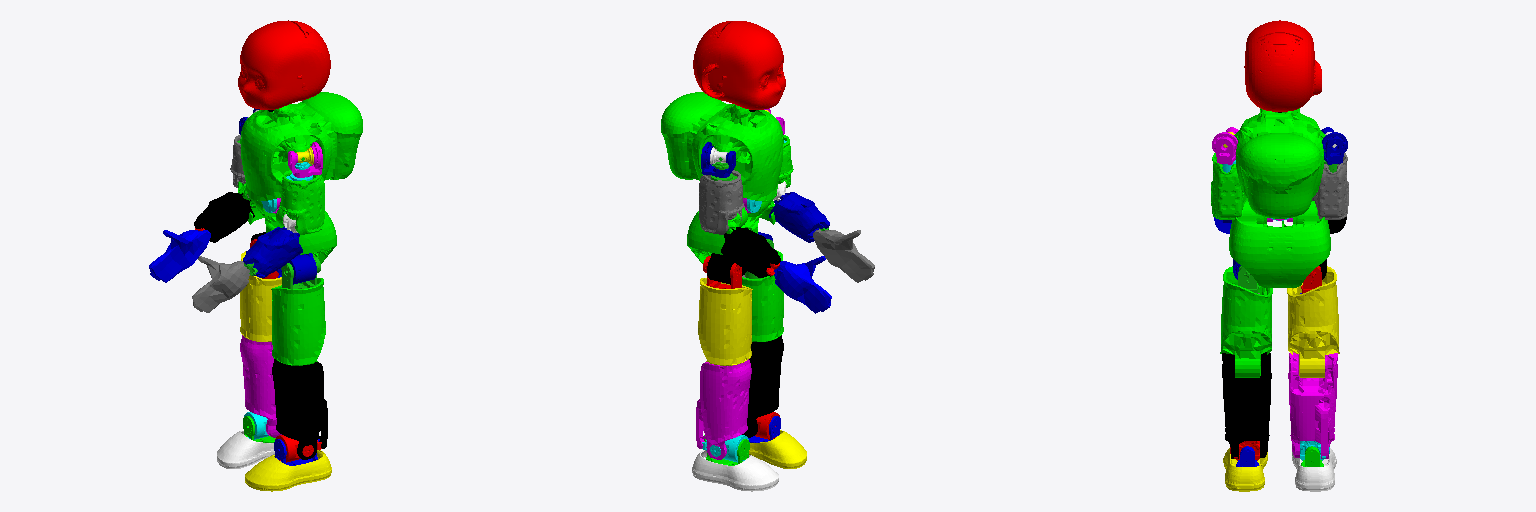
--- Render facts (derived) ---
Views: 3 orthographic renders of the robot side by side, from view 1: azimuth 30°, elevation 25°; view 2: azimuth 150°, elevation 25°; view 3: azimuth 270°, elevation 25°.
Model iCub with 189 links and 188 joints (32 revolute, 156 fixed), rooted at base_link, posed all joints at 0 but 2 set to mid-range because 0 is outside their limits (r_elbow = 1.06, l_elbow = 1.06).
Visible links, largest first — view 1: chest, head, l_lower_leg, l_upper_leg, r_lower_leg, l_upper_arm, l_foot, r_upper_leg, l_hand, r_hand, l_forearm, r_forearm (+4 smaller); view 2: chest, head, r_lower_leg, r_upper_leg, l_lower_leg, r_upper_arm, r_foot, l_upper_leg, r_hand, r_forearm, l_hand, l_forearm (+4 smaller); view 3: chest, root_link, head, r_upper_leg, l_upper_leg, l_lower_leg, r_lower_leg, r_upper_arm, l_upper_arm, r_foot, l_foot, l_shoulder_2 (+1 smaller).
Link boxes in pixels (x1=…): chest: x1=240, y1=92, x2=362, y2=200; head: x1=238, y1=20, x2=330, y2=109; l_lower_leg: x1=272, y1=359, x2=327, y2=459; l_upper_leg: x1=271, y1=278, x2=325, y2=365; r_lower_leg: x1=240, y1=335, x2=281, y2=437; l_upper_arm: x1=280, y1=170, x2=324, y2=234; l_foot: x1=245, y1=450, x2=331, y2=491; r_upper_leg: x1=240, y1=251, x2=281, y2=341; l_hand: x1=192, y1=256, x2=249, y2=312; r_hand: x1=149, y1=230, x2=210, y2=282; l_forearm: x1=243, y1=227, x2=302, y2=277; r_forearm: x1=194, y1=192, x2=254, y2=242; chest: x1=661, y1=92, x2=783, y2=201; head: x1=693, y1=21, x2=785, y2=109; r_lower_leg: x1=696, y1=359, x2=751, y2=459; r_upper_leg: x1=698, y1=278, x2=752, y2=365; l_lower_leg: x1=742, y1=335, x2=783, y2=437; r_upper_arm: x1=699, y1=170, x2=743, y2=234; r_foot: x1=692, y1=450, x2=778, y2=491; l_upper_leg: x1=742, y1=250, x2=783, y2=341; r_hand: x1=774, y1=256, x2=831, y2=313; r_forearm: x1=721, y1=227, x2=780, y2=277; l_hand: x1=813, y1=229, x2=874, y2=282; l_forearm: x1=769, y1=192, x2=829, y2=242; chest: x1=1234, y1=108, x2=1325, y2=218; root_link: x1=1229, y1=201, x2=1330, y2=287; head: x1=1244, y1=20, x2=1321, y2=111; r_upper_leg: x1=1287, y1=266, x2=1339, y2=377; l_upper_leg: x1=1220, y1=266, x2=1272, y2=377; l_lower_leg: x1=1222, y1=352, x2=1271, y2=458; r_lower_leg: x1=1288, y1=352, x2=1337, y2=458; r_upper_arm: x1=1312, y1=153, x2=1348, y2=219; l_upper_arm: x1=1211, y1=153, x2=1247, y2=219; r_foot: x1=1292, y1=448, x2=1336, y2=491; l_foot: x1=1223, y1=448, x2=1267, y2=491; l_shoulder_2: x1=1212, y1=127, x2=1238, y2=164.
Size in the robot's own frame: 0.4797 by 0.2988 by 1.08 metres.
Meshes: 39 distinct files referenced, 38 mesh visuals loaded (38 binary STL); not drawn: 1 (reference not matched to a file when rendering).

robot.urdf — iCub:
<robot name="iCub">
  <link name="root_link">
    <inertial>
      <origin xyz="0.0248821 0.000103947 -0.0440806" rpy="1.57079632679 0 -1.57079632679"/>
      <mass value="5.09143"/>
      <inertia ixx="0.0139679" ixy="-5.93488e-06" ixz="-1.55458e-05" iyy="0.0202112" iyz="-0.00170968" izz="0.0249124"/>
    </inertial>
    <visual>
      <origin xyz="-0.0364 0 0.032" rpy="1.57079632679 0 -1.57079632679"/>
      <geometry>
        <mesh filename="package://iCub/meshes/simmechanics/sim_sea_2-5_root_link_prt-binary.stl" scale="0.001 0.001 0.001"/>
      </geometry>
      <material name="green">
        <color rgba="0 1 0 1"/>
      </material>
    </visual>
    <collision>
      <origin xyz="-0.0364 0 0.032" rpy="1.57079632679 0 -1.57079632679"/>
      <geometry>
        <mesh filename="package://iCub/meshes/simmechanics/sim_sea_2-5_root_link_prt-binary.stl" scale="0.001 0.001 0.001"/>
      </geometry>
    </collision>
  </link>
  <link name="r_hip_1">
    <inertial>
      <origin xyz="-0.0005145 -0.0380753 -7.1e-05" rpy="1.57079632679 0 1.57079632679"/>
      <mass value="0.919978"/>
      <inertia ixx="0.000404268" ixy="-1.26852e-06" ixz="1.11055e-06" iyy="0.000574741" iyz="-7.69474e-07" izz="0.000580025"/>
    </inertial>
    <visual>
      <origin xyz="0.0428515000001 0.026 0.151913" rpy="1.57079632679 0 1.57079632679"/>
      <geometry>
        <mesh filename="package://iCub/meshes/simmechanics/sim_sea_2-5_r_hip_1_prt-binary.stl" scale="0.001 0.001 0.001"/>
      </geometry>
      <material name="black">
        <color rgba="0 0 0 1"/>
      </material>
    </visual>
    <collision>
      <origin xyz="0.0428515000001 0.026 0.151913" rpy="1.57079632679 0 1.57079632679"/>
      <geometry>
        <mesh filename="package://iCub/meshes/simmechanics/sim_sea_2-5_r_hip_1_prt-binary.stl" scale="0.001 0.001 0.001"/>
      </geometry>
    </collision>
  </link>
  <joint name="r_hip_pitch" type="revolute">
    <origin xyz="0.0064515 0.026 -0.119913" rpy="0 0 -3.14159265359"/>
    <axis xyz="-2.22044604925e-16 -1.0 0.0"/>
    <parent link="root_link"/>
    <child link="r_hip_1"/>
    <limit effort="55.5" lower="-0.785398163397" upper="2.33874119767" velocity="5.1"/>
    <dynamics damping="1.0" friction="0.0"/>
  </joint>
  <link name="r_hip_2">
    <inertial>
      <origin xyz="-0.0013754 3.49999999998e-06 -0.044282" rpy="1.57079632679 0 1.57079632679"/>
      <mass value="0.418361"/>
      <inertia ixx="0.000487866" ixy="-2.70231e-07" ixz="1.85338e-07" iyy="0.000286099" iyz="1.22793e-05" izz="0.000315174"/>
    </inertial>
    <visual>
      <origin xyz="0.0428514998094 0.0701 0.151913" rpy="1.57079632679 0 1.57079632679"/>
      <geometry>
        <mesh filename="package://iCub/meshes/simmechanics/sim_sea_2-5_r_hip_2_prt-binary.stl" scale="0.001 0.001 0.001"/>
      </geometry>
      <material name="red">
        <color rgba="1 0 0 1"/>
      </material>
    </visual>
    <collision>
      <origin xyz="0.0428514998094 0.0701 0.151913" rpy="1.57079632679 0 1.57079632679"/>
      <geometry>
        <mesh filename="package://iCub/meshes/simmechanics/sim_sea_2-5_r_hip_2_prt-binary.stl" scale="0.001 0.001 0.001"/>
      </geometry>
    </collision>
  </link>
  <joint name="r_hip_roll" type="revolute">
    <origin xyz="0 -0.0441 0" rpy="0 0 0"/>
    <axis xyz="-1.0 0.0 -2.22044604925e-16"/>
    <parent link="r_hip_1"/>
    <child link="r_hip_2"/>
    <limit effort="37.0" lower="-0.349065850399" upper="2.09439510239" velocity="7.64"/>
    <dynamics damping="1.0" friction="0.0"/>
  </joint>
  <link name="r_hip_3">
    <inertial>
      <origin xyz="-0.000123 -0.0002823 0.008718" rpy="-1.57079632679 0 -1.57079632679"/>
      <mass value="0.126212"/>
      <inertia ixx="0.01" ixy="2.67901e-07" ixz="-4.41463e-09" iyy="0.01" iyz="3.32338e-08" izz="0.01"/>
    </inertial>
    <visual>
      <origin xyz="0.0437089998094 -0.0701 -0.226213" rpy="-1.57079632679 0 -1.57079632679"/>
      <geometry>
        <mesh filename="package://iCub/meshes/simmechanics/sim_sea_2-5_r_upper_thigh_prt-binary.stl" scale="0.001 0.001 0.001"/>
      </geometry>
      <material name="blue">
        <color rgba="0 0 1 1"/>
      </material>
    </visual>
    <collision>
      <origin xyz="0.0437089998094 -0.0701 -0.226213" rpy="-1.57079632679 0 -1.57079632679"/>
      <geometry>
        <mesh filename="package://iCub/meshes/simmechanics/sim_sea_2-5_r_upper_thigh_prt-binary.stl" scale="0.001 0.001 0.001"/>
      </geometry>
    </collision>
  </link>
  <joint name="r_leg_ft_sensor" type="fixed">
    <origin xyz="-0.0008575 0 -0.0743" rpy="3.14159265359 0 0"/>
    <parent link="r_hip_2"/>
    <child link="r_hip_3"/>
    <dynamics damping="0.1"/>
  </joint>
  <link name="r_upper_leg">
    <inertial>
      <origin xyz="0.0033999 -2.91e-05 -0.078954" rpy="1.57079632679 0 1.57079632679"/>
      <mass value="1.8035"/>
      <inertia ixx="0.00647751422999" ixy="0.000129579429588" ixz="5.48205094739e-06" iyy="0.0014593786411" iyz="-0.000136613086875" izz="0.00646720823813"/>
    </inertial>
    <visual>
      <origin xyz="0.0437089998094 0.0701 0.240813" rpy="1.57079632679 0 1.57079632679"/>
      <geometry>
        <mesh filename="package://iCub/meshes/simmechanics/sim_sea_2-5_r_thigh_prt-binary.stl" scale="0.001 0.001 0.001"/>
      </geometry>
      <material name="yellow">
        <color rgba="1 1 0 1"/>
      </material>
    </visual>
    <collision>
      <origin xyz="0.0437089998094 0.0701 0.240813" rpy="1.57079632679 0 1.57079632679"/>
      <geometry>
        <mesh filename="package://iCub/meshes/simmechanics/sim_sea_2-5_r_thigh_prt-binary.stl" scale="0.001 0.001 0.001"/>
      </geometry>
    </collision>
  </link>
  <joint name="r_hip_yaw" type="revolute">
    <origin xyz="0 0 0.0144" rpy="-3.14159265359 0 0"/>
    <axis xyz="0.0 -2.22044604925e-16 -1.0"/>
    <parent link="r_hip_3"/>
    <child link="r_upper_leg"/>
    <limit effort="37.0" lower="-1.3962634016" upper="1.3962634016" velocity="7.64"/>
    <dynamics damping="1.0" friction="0.0"/>
  </joint>
  <link name="r_upper_leg_back_contact"/>
  <joint name="r_upper_leg_back_contact_fixed_joint" type="fixed">
    <origin xyz="-0.0511999 0 0.0146" rpy="0 1.57079632679 0"/>
    <parent link="r_upper_leg"/>
    <child link="r_upper_leg_back_contact"/>
    <dynamics damping="0.1"/>
  </joint>
  <link name="r_upper_leg_dh_frame"/>
  <joint name="r_upper_leg_dh_frame_fixed_joint" type="fixed">
    <origin xyz="0 0 -0.145825" rpy="1.57079632679 0 0"/>
    <parent link="r_upper_leg"/>
    <child link="r_upper_leg_dh_frame"/>
    <dynamics damping="0.1"/>
  </joint>
  <link name="r_lower_leg">
    <inertial>
      <origin xyz="0.0012363 -0.0035131 -0.088794" rpy="1.57079632679 0 1.57079632679"/>
      <mass value="1.472"/>
      <inertia ixx="0.00423993167478" ixy="0.000228814548854" ixz="-5.55646459453e-05" iyy="0.00152095043447" iyz="-0.000264132979243" izz="0.00457358584206"/>
    </inertial>
    <visual>
      <origin xyz="0.0437089998094 0.0701000001907 0.386638" rpy="1.57079632679 0 1.57079632679"/>
      <geometry>
        <mesh filename="package://iCub/meshes/simmechanics/sim_sea_2-5_r_shank_prt-binary.stl" scale="0.001 0.001 0.001"/>
      </geometry>
      <material name="pink">
        <color rgba="1 0 1 1"/>
      </material>
    </visual>
    <collision>
      <origin xyz="0.0437089998094 0.0701000001907 0.386638" rpy="1.57079632679 0 1.57079632679"/>
      <geometry>
        <mesh filename="package://iCub/meshes/simmechanics/sim_sea_2-5_r_shank_prt-binary.stl" scale="0.001 0.001 0.001"/>
      </geometry>
    </collision>
  </link>
  <joint name="r_knee" type="revolute">
    <origin xyz="0 0 -0.145825" rpy="0 0 0"/>
    <axis xyz="-2.22044604925e-16 -1.0 0.0"/>
    <parent link="r_upper_leg"/>
    <child link="r_lower_leg"/>
    <limit effort="37.0" lower="-2.16420827247" upper="0.0698131700798" velocity="7.64"/>
    <dynamics damping="1.0" friction="0.0"/>
  </joint>
  <link name="r_lower_leg_skin_0"/>
  <joint name="r_lower_leg_skin_0_fixed_joint" type="fixed">
    <origin xyz="0.0544117 -0.031214 -0.002634" rpy="2.09173809157e-06 -1.41530676247 2.48648458622"/>
    <parent link="r_lower_leg"/>
    <child link="r_lower_leg_skin_0"/>
    <dynamics damping="0.1"/>
  </joint>
  <link name="r_lower_leg_skin_3"/>
  <joint name="r_lower_leg_skin_3_fixed_joint" type="fixed">
    <origin xyz="0.05157878 0.0304205 -0.002843" rpy="0 -1.42951054083 -2.30391484186"/>
    <parent link="r_lower_leg"/>
    <child link="r_lower_leg_skin_3"/>
    <dynamics damping="0.1"/>
  </joint>
  <link name="r_lower_leg_skin_4"/>
  <joint name="r_lower_leg_skin_4_fixed_joint" type="fixed">
    <origin xyz="0.0583103 0.0167836 0.007272" rpy="-2.98636361519e-07 -1.25636748876 -2.75892380087"/>
    <parent link="r_lower_leg"/>
    <child link="r_lower_leg_skin_4"/>
    <dynamics damping="0.1"/>
  </joint>
  <link name="r_lower_leg_skin_5"/>
  <joint name="r_lower_leg_skin_5_fixed_joint" type="fixed">
    <origin xyz="0.0636503 0.0003094 -0.001972" rpy="0 -1.38652215068 -3.14147169807"/>
    <parent link="r_lower_leg"/>
    <child link="r_lower_leg_skin_5"/>
    <dynamics damping="0.1"/>
  </joint>
  <link name="r_lower_leg_skin_6"/>
  <joint name="r_lower_leg_skin_6_fixed_joint" type="fixed">
    <origin xyz="0.05208552 0.0304434 -0.022149" rpy="-3.14158927953 -1.46785123411 0.837492889077"/>
    <parent link="r_lower_leg"/>
    <child link="r_lower_leg_skin_6"/>
    <dynamics damping="0.1"/>
  </joint>
  <link name="r_lower_leg_skin_9"/>
  <joint name="r_lower_leg_skin_9_fixed_joint" type="fixed">
    <origin xyz="0.0598214 0.0167973 -0.030962" rpy="-3.14159202356 -1.34224755325 0.379294477718"/>
    <parent link="r_lower_leg"/>
    <child link="r_lower_leg_skin_9"/>
    <dynamics damping="0.1"/>
  </joint>
  <link name="r_lower_leg_skin_10"/>
  <joint name="r_lower_leg_skin_10_fixed_joint" type="fixed">
    <origin xyz="0.0644607 0.0003424 -0.021205" rpy="3.14159265355 -1.47095803541 0.000430021675261"/>
    <parent link="r_lower_leg"/>
    <child link="r_lower_leg_skin_10"/>
    <dynamics damping="0.1"/>
  </joint>
  <link name="r_lower_leg_skin_11"/>
  <joint name="r_lower_leg_skin_11_fixed_joint" type="fixed">
    <origin xyz="0.0607108 -0.0160916 -0.030885" rpy="-3.14159218252 -1.3281180406 -0.27213836788"/>
    <parent link="r_lower_leg"/>
    <child link="r_lower_leg_skin_11"/>
    <dynamics damping="0.1"/>
  </joint>
  <link name="r_lower_leg_skin_14"/>
  <joint name="r_lower_leg_skin_14_fixed_joint" type="fixed">
    <origin xyz="0.0550477 -0.031176 -0.0219" rpy="-3.14159181885 -1.46502735635 -0.654033407167"/>
    <parent link="r_lower_leg"/>
    <child link="r_lower_leg_skin_14"/>
    <dynamics damping="0.1"/>
  </joint>
  <link name="r_lower_leg_skin_15"/>
  <joint name="r_lower_leg_skin_15_fixed_joint" type="fixed">
    <origin xyz="0.0591708 -0.0161788 0.007243" rpy="4.27484256729e-07 -1.25203633076 2.86798859471"/>
    <parent link="r_lower_leg"/>
    <child link="r_lower_leg_skin_15"/>
    <dynamics damping="0.1"/>
  </joint>
  <link name="r_lower_leg_skin_16"/>
  <joint name="r_lower_leg_skin_16_fixed_joint" type="fixed">
    <origin xyz="0.0272875 -0.050287 -0.004549" rpy="1.33075915123e-05 -1.53260853515 1.96280242835"/>
    <parent link="r_lower_leg"/>
    <child link="r_lower_leg_skin_16"/>
    <dynamics damping="0.1"/>
  </joint>
  <link name="r_lower_leg_skin_17"/>
  <joint name="r_lower_leg_skin_17_fixed_joint" type="fixed">
    <origin xyz="0.027875 -0.050312 -0.023882" rpy="-3.1415645262 -1.56366240237 -1.18022508756"/>
    <parent link="r_lower_leg"/>
    <child link="r_lower_leg_skin_17"/>
    <dynamics damping="0.1"/>
  </joint>
  <link name="r_lower_leg_skin_19"/>
  <joint name="r_lower_leg_skin_19_fixed_joint" type="fixed">
    <origin xyz="0.0357534 0.0410628 0.006065" rpy="-8.90877717426e-07 -1.43498696978 -2.15863618017"/>
    <parent link="r_lower_leg"/>
    <child link="r_lower_leg_skin_19"/>
    <dynamics damping="0.1"/>
  </joint>
  <link name="r_lower_leg_skin_20"/>
  <joint name="r_lower_leg_skin_20_fixed_joint" type="fixed">
    <origin xyz="0.0234419 0.0479908 -0.004952" rpy="-3.20556549428e-06 -1.50015513031 -1.86755092413"/>
    <parent link="r_lower_leg"/>
    <child link="r_lower_leg_skin_20"/>
    <dynamics damping="0.1"/>
  </joint>
  <link name="r_lower_leg_skin_21"/>
  <joint name="r_lower_leg_skin_21_fixed_joint" type="fixed">
    <origin xyz="0.0242704 0.0485378 -0.024277" rpy="2.29671149558e-05 -1.55545513881 -1.87411972316"/>
    <parent link="r_lower_leg"/>
    <child link="r_lower_leg_skin_21"/>
    <dynamics damping="0.1"/>
  </joint>
  <link name="r_lower_leg_skin_28"/>
  <joint name="r_lower_leg_skin_28_fixed_joint" type="fixed">
    <origin xyz="0.04087215 -0.04244 -0.032756" rpy="3.14158088865 -1.52252462169 -0.929681029763"/>
    <parent link="r_lower_leg"/>
    <child link="r_lower_leg_skin_28"/>
    <dynamics damping="0.1"/>
  </joint>
  <link name="r_lower_leg_skin_29"/>
  <joint name="r_lower_leg_skin_29_fixed_joint" type="fixed">
    <origin xyz="0.03846637 -0.043516 -0.05242" rpy="3.14158017044 -1.53429841563 -0.915436346631"/>
    <parent link="r_lower_leg"/>
    <child link="r_lower_leg_skin_29"/>
    <dynamics damping="0.1"/>
  </joint>
  <link name="r_lower_leg_skin_31"/>
  <joint name="r_lower_leg_skin_31_fixed_joint" type="fixed">
    <origin xyz="0.03914638 -0.042271 0.006327" rpy="-6.58381747139e-07 -1.4186494462 2.20853032986"/>
    <parent link="r_lower_leg"/>
    <child link="r_lower_leg_skin_31"/>
    <dynamics damping="0.1"/>
  </joint>
  <link name="r_lower_leg_skin_32"/>
  <joint name="r_lower_leg_skin_32_fixed_joint" type="fixed">
    <origin xyz="0.04598301 0.0325847 -0.080733" rpy="-3.14159014988 -1.52238289798 0.645940380887"/>
    <parent link="r_lower_leg"/>
    <child link="r_lower_leg_skin_32"/>
    <dynamics damping="0.1"/>
  </joint>
  <link name="r_lower_leg_skin_35"/>
  <joint name="r_lower_leg_skin_35_fixed_joint" type="fixed">
    <origin xyz="0.04774866 -0.031232 -0.080113" rpy="-3.14158668275 -1.51758467332 -0.541532486468"/>
    <parent link="r_lower_leg"/>
    <child link="r_lower_leg_skin_35"/>
    <dynamics damping="0.1"/>
  </joint>
  <link name="r_lower_leg_skin_36"/>
  <joint name="r_lower_leg_skin_36_fixed_joint" type="fixed">
    <origin xyz="0.05322409 -0.0156018 -0.088362" rpy="-3.14159034144 -1.51587265281 -0.20740733566"/>
    <parent link="r_lower_leg"/>
    <child link="r_lower_leg_skin_36"/>
    <dynamics damping="0.1"/>
  </joint>
  <link name="r_lower_leg_skin_37"/>
  <joint name="r_lower_leg_skin_37_fixed_joint" type="fixed">
    <origin xyz="0.0552572 0.0009644 -0.078318" rpy="-3.14158180452 -1.52318336898 0.00752450583063"/>
    <parent link="r_lower_leg"/>
    <child link="r_lower_leg_skin_37"/>
    <dynamics damping="0.1"/>
  </joint>
  <link name="r_lower_leg_skin_38"/>
  <joint name="r_lower_leg_skin_38_fixed_joint" type="fixed">
    <origin xyz="0.04880467 -0.031263 -0.060757" rpy="3.14158665199 -1.5157299554 -0.54215359959"/>
    <parent link="r_lower_leg"/>
    <child link="r_lower_leg_skin_38"/>
    <dynamics damping="0.1"/>
  </joint>
  <link name="r_lower_leg_skin_41"/>
  <joint name="r_lower_leg_skin_41_fixed_joint" type="fixed">
    <origin xyz="0.0566009 -0.0159129 -0.049854" rpy="-3.14159198825 -1.40681343597 -0.248233089413"/>
    <parent link="r_lower_leg"/>
    <child link="r_lower_leg_skin_41"/>
    <dynamics damping="0.1"/>
  </joint>
  <link name="r_lower_leg_skin_42"/>
  <joint name="r_lower_leg_skin_42_fixed_joint" type="fixed">
    <origin xyz="0.0570106 0.0007962 -0.05908" rpy="3.14158970239 -1.43524750416 0.00687943651504"/>
    <parent link="r_lower_leg"/>
    <child link="r_lower_leg_skin_42"/>
    <dynamics damping="0.1"/>
  </joint>
  <link name="r_lower_leg_skin_43"/>
  <joint name="r_lower_leg_skin_43_fixed_joint" type="fixed">
    <origin xyz="0.04712542 0.0323653 -0.061362" rpy="-3.14159136621 -1.53843038237 0.624217523667"/>
    <parent link="r_lower_leg"/>
    <child link="r_lower_leg_skin_43"/>
    <dynamics damping="0.1"/>
  </joint>
  <link name="r_lower_leg_skin_46"/>
  <joint name="r_lower_leg_skin_46_fixed_joint" type="fixed">
    <origin xyz="0.0558156 0.0172164 -0.05018" rpy="-3.14158987809 -1.42759881603 0.325607710876"/>
    <parent link="r_lower_leg"/>
    <child link="r_lower_leg_skin_46"/>
    <dynamics damping="0.1"/>
  </joint>
  <link name="r_lower_leg_skin_47"/>
  <joint name="r_lower_leg_skin_47_fixed_joint" type="fixed">
    <origin xyz="0.05264163 0.0176389 -0.08886" rpy="3.14158963519 -1.51690559406 0.262640425058"/>
    <parent link="r_lower_leg"/>
    <child link="r_lower_leg_skin_47"/>
    <dynamics damping="0.1"/>
  </joint>
  <link name="r_lower_leg_skin_49"/>
  <joint name="r_lower_leg_skin_49_fixed_joint" type="fixed">
    <origin xyz="0.04113137 0.0324385 -0.138859" rpy="-3.14158934751 -1.48996135695 0.729763592113"/>
    <parent link="r_lower_leg"/>
    <child link="r_lower_leg_skin_49"/>
    <dynamics damping="0.1"/>
  </joint>
  <link name="r_lower_leg_skin_50"/>
  <joint name="r_lower_leg_skin_50_fixed_joint" type="fixed">
    <origin xyz="0.043016947 0.0325273 -0.119469" rpy="3.14159069596 -1.49900732636 0.695784020081"/>
    <parent link="r_lower_leg"/>
    <child link="r_lower_leg_skin_50"/>
    <dynamics damping="0.1"/>
  </joint>
  <link name="r_lower_leg_skin_51"/>
  <joint name="r_lower_leg_skin_51_fixed_joint" type="fixed">
    <origin xyz="0.05141583 0.017759 -0.108206" rpy="-3.14158890179 -1.50628475717 0.272079935713"/>
    <parent link="r_lower_leg"/>
    <child link="r_lower_leg_skin_51"/>
    <dynamics damping="0.1"/>
  </joint>
  <link name="r_lower_leg_skin_52"/>
  <joint name="r_lower_leg_skin_52_fixed_joint" type="fixed">
    <origin xyz="0.05299832 0.0012664 -0.116895" rpy="-3.14159164042 -1.50318674421 0.0108717260994"/>
    <parent link="r_lower_leg"/>
    <child link="r_lower_leg_skin_52"/>
    <dynamics damping="0.1"/>
  </joint>
  <link name="r_lower_leg_skin_53"/>
  <joint name="r_lower_leg_skin_53_fixed_joint" type="fixed">
    <origin xyz="0.05207312 -0.0154339 -0.107654" rpy="3.14159063987 -1.50595307447 -0.211407322892"/>
    <parent link="r_lower_leg"/>
    <child link="r_lower_leg_skin_53"/>
    <dynamics damping="0.1"/>
  </joint>
  <link name="r_lower_leg_skin_54"/>
  <joint name="r_lower_leg_skin_54_fixed_joint" type="fixed">
    <origin xyz="0.04512708 -0.030749 -0.118787" rpy="3.14158825193 -1.49745145571 -0.575115374473"/>
    <parent link="r_lower_leg"/>
    <child link="r_lower_leg_skin_54"/>
    <dynamics damping="0.1"/>
  </joint>
  <link name="r_lower_leg_skin_55"/>
  <joint name="r_lower_leg_skin_55_fixed_joint" type="fixed">
    <origin xyz="0.043502663 -0.030489 -0.138143" rpy="3.14158906486 -1.48995787038 -0.597219943789"/>
    <parent link="r_lower_leg"/>
    <child link="r_lower_leg_skin_55"/>
    <dynamics damping="0.1"/>
  </joint>
  <link name="r_lower_leg_skin_56"/>
  <joint name="r_lower_leg_skin_56_fixed_joint" type="fixed">
    <origin xyz="0.04926839 -0.015121 -0.146218" rpy="-3.14158920404 -1.49124819828 -0.2234844764"/>
    <parent link="r_lower_leg"/>
    <child link="r_lower_leg_skin_56"/>
    <dynamics damping="0.1"/>
  </joint>
  <link name="r_lower_leg_skin_60"/>
  <joint name="r_lower_leg_skin_60_fixed_joint" type="fixed">
    <origin xyz="0.04836967 0.018056 -0.146938" rpy="-3.14159173337 -1.48985968527 0.302951871954"/>
    <parent link="r_lower_leg"/>
    <child link="r_lower_leg_skin_60"/>
    <dynamics damping="0.1"/>
  </joint>
  <link name="r_lower_leg_skin_61"/>
  <joint name="r_lower_leg_skin_61_fixed_joint" type="fixed">
    <origin xyz="0.05161952 0.0014266 -0.136169" rpy="-3.14159100925 -1.49602097086 0.0132014275205"/>
    <parent link="r_lower_leg"/>
    <child link="r_lower_leg_skin_61"/>
    <dynamics damping="0.1"/>
  </joint>
  <link name="r_ankle_1">
    <inertial>
      <origin xyz="0.0151436 -0.0008686 4.2e-05" rpy="1.57079632679 0 1.57079632679"/>
      <mass value="0.6803"/>
      <inertia ixx="0.000404618848932" ixy="7.49819286945e-07" ixz="-3.01349467691e-05" iyy="0.000448633654664" iyz="2.5726697409e-06" izz="0.000308235939139"/>
    </inertial>
    <visual>
      <origin xyz="0.0437089998094 0.0701000001907 0.587138" rpy="1.57079632679 0 1.57079632679"/>
      <geometry>
        <mesh filename="package://iCub/meshes/simmechanics/sim_sea_2-5_r_ankle_prt-binary.stl" scale="0.001 0.001 0.001"/>
      </geometry>
      <material name="cyan">
        <color rgba="0 1 1 1"/>
      </material>
    </visual>
    <collision>
      <origin xyz="0.0437089998094 0.0701000001907 0.587138" rpy="1.57079632679 0 1.57079632679"/>
      <geometry>
        <mesh filename="package://iCub/meshes/simmechanics/sim_sea_2-5_r_ankle_prt-binary.stl" scale="0.001 0.001 0.001"/>
      </geometry>
    </collision>
  </link>
  <joint name="r_ankle_pitch" type="revolute">
    <origin xyz="0 0 -0.2005" rpy="0 0 0"/>
    <axis xyz="2.22044604925e-16 1.0 0.0"/>
    <parent link="r_lower_leg"/>
    <child link="r_ankle_1"/>
    <limit effort="37.0" lower="-0.610865238198" upper="0.610865238198" velocity="7.64"/>
    <dynamics damping="1.0" friction="0.0"/>
  </joint>
  <link name="r_ankle_2">
    <inertial>
      <origin xyz="0.0007673 -8.20000000001e-06 -0.038202" rpy="1.57079632679 0 1.57079632679"/>
      <mass value="0.267485"/>
      <inertia ixx="0.01" ixy="-7.53335e-08" ixz="2.93681e-08" iyy="0.01" iyz="-4.26218e-07" izz="0.01"/>
    </inertial>
    <visual>
      <origin xyz="0.0437089996186 0.0701000001907 0.587138" rpy="1.57079632679 0 1.57079632679"/>
      <geometry>
        <mesh filename="package://iCub/meshes/simmechanics/sim_sea_2-5_r_foot_prt-binary.stl" scale="0.001 0.001 0.001"/>
      </geometry>
      <material name="green">
        <color rgba="0 1 0 1"/>
      </material>
    </visual>
    <collision>
      <origin xyz="0.0437089996186 0.0701000001907 0.587138" rpy="1.57079632679 0 1.57079632679"/>
      <geometry>
        <mesh filename="package://iCub/meshes/simmechanics/sim_sea_2-5_r_foot_prt-binary.stl" scale="0.001 0.001 0.001"/>
      </geometry>
    </collision>
  </link>
  <joint name="r_ankle_roll" type="revolute">
    <origin xyz="0 0 0" rpy="0 0 0"/>
    <axis xyz="-1.0 0.0 -2.22044604925e-16"/>
    <parent link="r_ankle_1"/>
    <child link="r_ankle_2"/>
    <limit effort="37.0" lower="-0.436332312999" upper="0.436332312999" velocity="7.64"/>
    <dynamics damping="1.0" friction="0.0"/>
  </joint>
  <link name="r_foot">
    <inertial>
      <origin xyz="0.0336001 0.0053719 -0.001147" rpy="-1.57079632679 0 -1.57079632679"/>
      <mass value="0.382866"/>
      <inertia ixx="0.00120946" ixy="3.74585e-07" ixz="-5.78759e-05" iyy="0.00141439" iyz="-7.80325e-06" izz="0.000273599"/>
    </inertial>
    <visual>
      <origin xyz="0.0472089996187 -0.0701000001907 -0.647438000286" rpy="-1.57079632679 0 -1.57079632679"/>
      <geometry>
        <mesh filename="package://iCub/meshes/simmechanics/sim_sea_2-5_r_sole_prt-binary.stl" scale="0.001 0.001 0.001"/>
      </geometry>
      <material name="white">
        <color rgba="1 1 1 1"/>
      </material>
    </visual>
    <collision>
      <origin xyz="0.03 0.005 0.014" rpy="0.0 0.0 0.0"/>
      <geometry>
        <box size="0.16 0.072 0.001"/>
      </geometry>
    </collision>
  </link>
  <joint name="r_foot_ft_sensor" type="fixed">
    <origin xyz="-0.0035 0 -0.0605" rpy="3.14159265359 0 0"/>
    <parent link="r_ankle_2"/>
    <child link="r_foot"/>
    <dynamics damping="0.1"/>
  </joint>
  <link name="r_sole"/>
  <joint name="r_sole_fixed_joint" type="fixed">
    <origin xyz="0.0035 0 0.004" rpy="-3.14159265359 0 0"/>
    <parent link="r_foot"/>
    <child link="r_sole"/>
    <dynamics damping="0.1"/>
  </joint>
  <link name="r_sole_skin_0"/>
  <joint name="r_sole_skin_0_fixed_joint" type="fixed">
    <origin xyz="0.0604767 -0.0254106 0.0075" rpy="0 0 0"/>
    <parent link="r_foot"/>
    <child link="r_sole_skin_0"/>
    <dynamics damping="0.1"/>
  </joint>
  <link name="r_sole_skin_1"/>
  <joint name="r_sole_skin_1_fixed_joint" type="fixed">
    <origin xyz="0.0788511 -0.0194404 0.0075" rpy="0 0 0"/>
    <parent link="r_foot"/>
    <child link="r_sole_skin_1"/>
    <dynamics damping="0.1"/>
  </joint>
  <link name="r_sole_skin_2"/>
  <joint name="r_sole_skin_2_fixed_joint" type="fixed">
    <origin xyz="0.0932087 -0.032368 0.0075" rpy="0 0 0"/>
    <parent link="r_foot"/>
    <child link="r_sole_skin_2"/>
    <dynamics damping="0.1"/>
  </joint>
  <link name="r_sole_skin_3"/>
  <joint name="r_sole_skin_3_fixed_joint" type="fixed">
    <origin xyz="0.1115831 -0.0263978 0.0075" rpy="0 0 0"/>
    <parent link="r_foot"/>
    <child link="r_sole_skin_3"/>
    <dynamics damping="0.1"/>
  </joint>
  <link name="r_sole_skin_4"/>
  <joint name="r_sole_skin_4_fixed_joint" type="fixed">
    <origin xyz="0.1156 -0.0075 0.0075" rpy="0 0 0"/>
    <parent link="r_foot"/>
    <child link="r_sole_skin_4"/>
    <dynamics damping="0.1"/>
  </joint>
  <link name="r_sole_skin_8"/>
  <joint name="r_sole_skin_8_fixed_joint" type="fixed">
    <origin xyz="0.1052593 0.0243254 0.0075" rpy="0 0 0"/>
    <parent link="r_foot"/>
    <child link="r_sole_skin_8"/>
    <dynamics damping="0.1"/>
  </joint>
  <link name="r_sole_skin_9"/>
  <joint name="r_sole_skin_9_fixed_joint" type="fixed">
    <origin xyz="0.0909017 0.037253 0.0075" rpy="0 0 0"/>
    <parent link="r_foot"/>
    <child link="r_sole_skin_9"/>
    <dynamics damping="0.1"/>
  </joint>
  <link name="r_sole_skin_10"/>
  <joint name="r_sole_skin_10_fixed_joint" type="fixed">
    <origin xyz="0.0725273 0.031283 0.0075" rpy="0 0 0"/>
    <parent link="r_foot"/>
    <child link="r_sole_skin_10"/>
    <dynamics damping="0.1"/>
  </joint>
  <link name="r_sole_skin_11"/>
  <joint name="r_sole_skin_11_fixed_joint" type="fixed">
    <origin xyz="0.0685104 0.012385 0.0075" rpy="0 0 0"/>
    <parent link="r_foot"/>
    <child link="r_sole_skin_11"/>
    <dynamics damping="0.1"/>
  </joint>
  <link name="r_sole_skin_12"/>
  <joint name="r_sole_skin_12_fixed_joint" type="fixed">
    <origin xyz="0.082868 -0.0005426 0.0075" rpy="0 0 0"/>
    <parent link="r_foot"/>
    <child link="r_sole_skin_12"/>
    <dynamics damping="0.1"/>
  </joint>
  <link name="r_sole_skin_13"/>
  <joint name="r_sole_skin_13_fixed_joint" type="fixed">
    <origin xyz="0.1012424 0.0054276 0.0075" rpy="0 0 0"/>
    <parent link="r_foot"/>
    <child link="r_sole_skin_13"/>
    <dynamics damping="0.1"/>
  </joint>
  <link name="r_sole_skin_14"/>
  <joint name="r_sole_skin_14_fixed_joint" type="fixed">
    <origin xyz="0.05013603 0.0064148 0.0075" rpy="0 0 0"/>
    <parent link="r_foot"/>
    <child link="r_sole_skin_14"/>
    <dynamics damping="0.1"/>
  </joint>
  <link name="r_sole_skin_15"/>
  <joint name="r_sole_skin_15_fixed_joint" type="fixed">
    <origin xyz="0.04611917 -0.012483 0.0075" rpy="0 0 0"/>
    <parent link="r_foot"/>
    <child link="r_sole_skin_15"/>
    <dynamics damping="0.1"/>
  </joint>
  <link name="r_sole_skin_17"/>
  <joint name="r_sole_skin_17_fixed_joint" type="fixed">
    <origin xyz="-0.0296855 0.033257 0.0075" rpy="0 0 0"/>
    <parent link="r_foot"/>
    <child link="r_sole_skin_17"/>
    <dynamics damping="0.1"/>
  </joint>
  <link name="r_sole_skin_18"/>
  <joint name="r_sole_skin_18_fixed_joint" type="fixed">
    <origin xyz="-0.0480599 0.027287 0.0075" rpy="0 0 0"/>
    <parent link="r_foot"/>
    <child link="r_sole_skin_18"/>
    <dynamics damping="0.1"/>
  </joint>
  <link name="r_sole_skin_19"/>
  <joint name="r_sole_skin_19_fixed_joint" type="fixed">
    <origin xyz="-0.0520767 0.0083892 0.0075" rpy="0 0 0"/>
    <parent link="r_foot"/>
    <child link="r_sole_skin_19"/>
    <dynamics damping="0.1"/>
  </joint>
  <link name="r_sole_skin_20"/>
  <joint name="r_sole_skin_20_fixed_joint" type="fixed">
    <origin xyz="-0.0377192 -0.0045384 0.0075" rpy="0 0 0"/>
    <parent link="r_foot"/>
    <child link="r_sole_skin_20"/>
    <dynamics damping="0.1"/>
  </joint>
  <link name="r_sole_skin_21"/>
  <joint name="r_sole_skin_21_fixed_joint" type="fixed">
    <origin xyz="0.0357785 0.0193424 0.0075" rpy="0 0 0"/>
    <parent link="r_foot"/>
    <child link="r_sole_skin_21"/>
    <dynamics damping="0.1"/>
  </joint>
  <link name="r_sole_skin_22"/>
  <joint name="r_sole_skin_22_fixed_joint" type="fixed">
    <origin xyz="0.0277448 -0.0184532 0.0075" rpy="0 0 0"/>
    <parent link="r_foot"/>
    <child link="r_sole_skin_22"/>
    <dynamics damping="0.1"/>
  </joint>
  <link name="r_sole_skin_24"/>
  <joint name="r_sole_skin_24_fixed_joint" type="fixed">
    <origin xyz="-0.0049872 -0.0114958 0.0075" rpy="0 0 0"/>
    <parent link="r_foot"/>
    <child link="r_sole_skin_24"/>
    <dynamics damping="0.1"/>
  </joint>
  <link name="r_sole_skin_25"/>
  <joint name="r_sole_skin_25_fixed_joint" type="fixed">
    <origin xyz="0.0133872 -0.0055256 0.0075" rpy="0 0 0"/>
    <parent link="r_foot"/>
    <child link="r_sole_skin_25"/>
    <dynamics damping="0.1"/>
  </joint>
  <link name="r_sole_skin_26"/>
  <joint name="r_sole_skin_26_fixed_joint" type="fixed">
    <origin xyz="0.0174041 0.0133722 0.0075" rpy="0 0 0"/>
    <parent link="r_foot"/>
    <child link="r_sole_skin_26"/>
    <dynamics damping="0.1"/>
  </joint>
  <link name="r_sole_skin_27"/>
  <joint name="r_sole_skin_27_fixed_joint" type="fixed">
    <origin xyz="0.0030465 0.0262998 0.0075" rpy="0 0 0"/>
    <parent link="r_foot"/>
    <child link="r_sole_skin_27"/>
    <dynamics damping="0.1"/>
  </joint>
  <link name="r_sole_skin_28"/>
  <joint name="r_sole_skin_28_fixed_joint" type="fixed">
    <origin xyz="-0.0153279 0.0203296 0.0075" rpy="0 0 0"/>
    <parent link="r_foot"/>
    <child link="r_sole_skin_28"/>
    <dynamics damping="0.1"/>
  </joint>
  <link name="r_sole_skin_29"/>
  <joint name="r_sole_skin_29_fixed_joint" type="fixed">
    <origin xyz="-0.0193448 0.0014318 0.0075" rpy="0 0 0"/>
    <parent link="r_foot"/>
    <child link="r_sole_skin_29"/>
    <dynamics damping="0.1"/>
  </joint>
  <link name="l_hip_1">
    <inertial>
      <origin xyz="-0.0005108 0.0380923 -8.3e-05" rpy="1.57079632679 0 1.57079632679"/>
      <mass value="0.919725"/>
      <inertia ixx="0.000404539" ixy="1.18502e-06" ixz="-9.64514e-07" iyy="0.000573315" iyz="-1.06028e-06" izz="0.000578982"/>
    </inertial>
    <visual>
      <origin xyz="0.0428515000001 -0.026 0.151913" rpy="1.57079632679 0 1.57079632679"/>
      <geometry>
        <mesh filename="package://iCub/meshes/simmechanics/sim_sea_2-5_l_hip_1_prt-binary.stl" scale="0.001 0.001 0.001"/>
      </geometry>
      <material name="dblue">
        <color rgba="0 0 0.8 1"/>
      </material>
    </visual>
    <collision>
      <origin xyz="0.0428515000001 -0.026 0.151913" rpy="1.57079632679 0 1.57079632679"/>
      <geometry>
        <mesh filename="package://iCub/meshes/simmechanics/sim_sea_2-5_l_hip_1_prt-binary.stl" scale="0.001 0.001 0.001"/>
      </geometry>
    </collision>
  </link>
  <joint name="l_hip_pitch" type="revolute">
    <origin xyz="0.0064515 -0.026 -0.119913" rpy="0 0 -3.14159265359"/>
    <axis xyz="-2.22044604925e-16 -1.0 0.0"/>
    <parent link="root_link"/>
    <child link="l_hip_1"/>
    <limit effort="55.5" lower="-0.785398163397" upper="2.33874119767" velocity="5.1"/>
    <dynamics damping="1.0" friction="0.0"/>
  </joint>
  <link name="l_hip_2">
    <inertial>
      <origin xyz="-0.0015762 -1.94e-05 -0.044053" rpy="1.57079632679 0 1.57079632679"/>
      <mass value="0.421106"/>
      <inertia ixx="0.000494284" ixy="1.5483e-07" ixz="-1.86308e-07" iyy="0.000288736" iyz="1.52962e-05" izz="0.000319008"/>
    </inertial>
    <visual>
      <origin xyz="0.0428514998093 -0.0701 0.151913" rpy="1.57079632679 0 1.57079632679"/>
      <geometry>
        <mesh filename="package://iCub/meshes/simmechanics/sim_sea_2-5_l_hip_2_prt-binary.stl" scale="0.001 0.001 0.001"/>
      </geometry>
      <material name="dgreen">
        <color rgba="0.1 0.8 0.1 1"/>
      </material>
    </visual>
    <collision>
      <origin xyz="0.0428514998093 -0.0701 0.151913" rpy="1.57079632679 0 1.57079632679"/>
      <geometry>
        <mesh filename="package://iCub/meshes/simmechanics/sim_sea_2-5_l_hip_2_prt-binary.stl" scale="0.001 0.001 0.001"/>
      </geometry>
    </collision>
  </link>
  <joint name="l_hip_roll" type="revolute">
    <origin xyz="0 0.0441 0" rpy="0 0 0"/>
    <axis xyz="1.0 0.0 2.22044604925e-16"/>
    <parent link="l_hip_1"/>
    <child link="l_hip_2"/>
    <limit effort="37.0" lower="-0.349065850399" upper="2.09439510239" velocity="7.64"/>
    <dynamics damping="1.0" friction="0.0"/>
  </joint>
  <link name="l_hip_3">
    <inertial>
      <origin xyz="-0.000123 -0.0002823 0.008718" rpy="-1.57079632679 0 -1.57079632679"/>
      <mass value="0.126212"/>
      <inertia ixx="0.01" ixy="2.67901e-07" ixz="-4.41463e-09" iyy="0.01" iyz="3.32338e-08" izz="0.01"/>
    </inertial>
    <visual>
      <origin xyz="0.0437089998093 0.0701 -0.226213" rpy="-1.57079632679 0 -1.57079632679"/>
      <geometry>
        <mesh filename="package://iCub/meshes/simmechanics/sim_sea_2-5_l_upper_thigh_prt-binary.stl" scale="0.001 0.001 0.001"/>
      </geometry>
      <material name="gray">
        <color rgba="0.5 0.5 0.5 1"/>
      </material>
    </visual>
    <collision>
      <origin xyz="0.0437089998093 0.0701 -0.226213" rpy="-1.57079632679 0 -1.57079632679"/>
      <geometry>
        <mesh filename="package://iCub/meshes/simmechanics/sim_sea_2-5_l_upper_thigh_prt-binary.stl" scale="0.001 0.001 0.001"/>
      </geometry>
    </collision>
  </link>
  <joint name="l_leg_ft_sensor" type="fixed">
    <origin xyz="-0.0008575 0 -0.0743" rpy="3.14159265359 0 0"/>
    <parent link="l_hip_2"/>
    <child link="l_hip_3"/>
    <dynamics damping="0.1"/>
  </joint>
  <link name="l_upper_leg">
    <inertial>
      <origin xyz="0.0033868 0.0001018 -0.078916" rpy="1.57079632679 0 1.57079632679"/>
      <mass value="1.8084"/>
      <inertia ixx="0.00648512673084" ixy="-0.00012421121424" ixz="-3.97399421479e-06" iyy="0.00146250529833" iyz="-0.00013681806888" izz="0.00647619242046"/>
    </inertial>
    <visual>
      <origin xyz="0.0437089998093 -0.0701 0.240813" rpy="1.57079632679 0 1.57079632679"/>
      <geometry>
        <mesh filename="package://iCub/meshes/simmechanics/sim_sea_2-5_l_thigh_prt-binary.stl" scale="0.001 0.001 0.001"/>
      </geometry>
      <material name="green">
        <color rgba="0 1 0 1"/>
      </material>
    </visual>
    <collision>
      <origin xyz="0.0437089998093 -0.0701 0.240813" rpy="1.57079632679 0 1.57079632679"/>
      <geometry>
        <mesh filename="package://iCub/meshes/simmechanics/sim_sea_2-5_l_thigh_prt-binary.stl" scale="0.001 0.001 0.001"/>
      </geometry>
    </collision>
  </link>
  <joint name="l_hip_yaw" type="revolute">
    <origin xyz="0 0 0.0144" rpy="-3.14159265359 0 0"/>
    <axis xyz="0.0 2.22044604925e-16 1.0"/>
    <parent link="l_hip_3"/>
    <child link="l_upper_leg"/>
    <limit effort="37.0" lower="-1.3962634016" upper="1.3962634016" velocity="7.64"/>
    <dynamics damping="1.0" friction="0.0"/>
  </joint>
  <link name="l_upper_leg_back_contact"/>
  <joint name="l_upper_leg_back_contact_fixed_joint" type="fixed">
    <origin xyz="-0.0512567 0 0.0146" rpy="0 1.57079632679 0"/>
    <parent link="l_upper_leg"/>
    <child link="l_upper_leg_back_contact"/>
    <dynamics damping="0.1"/>
  </joint>
  <link name="l_upper_leg_dh_frame"/>
  <joint name="l_upper_leg_dh_frame_fixed_joint" type="fixed">
    <origin xyz="0 0 -0.145825" rpy="1.57079632679 0 0"/>
    <parent link="l_upper_leg"/>
    <child link="l_upper_leg_dh_frame"/>
    <dynamics damping="0.1"/>
  </joint>
  <link name="l_lower_leg">
    <inertial>
      <origin xyz="0.0009997 0.0034969 -0.088567" rpy="1.57079632679 0 1.57079632679"/>
      <mass value="1.4724"/>
      <inertia ixx="0.00423698606499" ixy="-0.000239615181423" ixz="6.76166218238e-05" iyy="0.00152221313636" iyz="-0.00023314283575" izz="0.00457007183207"/>
    </inertial>
    <visual>
      <origin xyz="0.0437089998093 -0.0701000001908 0.386638" rpy="1.57079632679 0 1.57079632679"/>
      <geometry>
        <mesh filename="package://iCub/meshes/simmechanics/sim_sea_2-5_l_shank_prt-binary.stl" scale="0.001 0.001 0.001"/>
      </geometry>
      <material name="black">
        <color rgba="0 0 0 1"/>
      </material>
    </visual>
    <collision>
      <origin xyz="0.0437089998093 -0.0701000001908 0.386638" rpy="1.57079632679 0 1.57079632679"/>
      <geometry>
        <mesh filename="package://iCub/meshes/simmechanics/sim_sea_2-5_l_shank_prt-binary.stl" scale="0.001 0.001 0.001"/>
      </geometry>
    </collision>
  </link>
  <joint name="l_knee" type="revolute">
    <origin xyz="0 0 -0.145825" rpy="0 0 0"/>
    <axis xyz="-2.22044604925e-16 -1.0 0.0"/>
    <parent link="l_upper_leg"/>
    <child link="l_lower_leg"/>
    <limit effort="37.0" lower="-2.16420827247" upper="0.0698131700798" velocity="7.64"/>
    <dynamics damping="1.0" friction="0.0"/>
  </joint>
  <link name="l_ankle_1">
    <inertial>
      <origin xyz="0.015153 0.0009021 4.2e-05" rpy="1.57079632679 0 1.57079632679"/>
      <mass value="0.6798"/>
      <inertia ixx="0.000404474297345" ixy="-1.13226038781e-06" ixz="3.04665105776e-05" iyy="0.00044788735407" iyz="2.57265834141e-06" izz="0.000307603045377"/>
    </inertial>
    <visual>
      <origin xyz="0.0437089998093 -0.0701000001908 0.587138" rpy="1.57079632679 0 1.57079632679"/>
      <geometry>
        <mesh filename="package://iCub/meshes/simmechanics/sim_sea_2-5_l_ankle_prt-binary.stl" scale="0.001 0.001 0.001"/>
      </geometry>
      <material name="red">
        <color rgba="1 0 0 1"/>
      </material>
    </visual>
    <collision>
      <origin xyz="0.0437089998093 -0.0701000001908 0.587138" rpy="1.57079632679 0 1.57079632679"/>
      <geometry>
        <mesh filename="package://iCub/meshes/simmechanics/sim_sea_2-5_l_ankle_prt-binary.stl" scale="0.001 0.001 0.001"/>
      </geometry>
    </collision>
  </link>
  <joint name="l_ankle_pitch" type="revolute">
    <origin xyz="0 0 -0.2005" rpy="0 0 0"/>
    <axis xyz="2.22044604925e-16 1.0 0.0"/>
    <parent link="l_lower_leg"/>
    <child link="l_ankle_1"/>
    <limit effort="37.0" lower="-0.610865238198" upper="0.610865238198" velocity="7.64"/>
    <dynamics damping="1.0" friction="0.0"/>
  </joint>
  <link name="l_ankle_2">
    <inertial>
      <origin xyz="0.0007673 -8.2e-06 -0.038202" rpy="1.57079632679 0 1.57079632679"/>
      <mass value="0.267485"/>
      <inertia ixx="0.01" ixy="-7.53335e-08" ixz="2.93681e-08" iyy="0.01" iyz="-4.26218e-07" izz="0.01"/>
    </inertial>
    <visual>
      <origin xyz="0.0437089996186 -0.0701000001908 0.587138" rpy="1.57079632679 0 1.57079632679"/>
      <geometry>
        <mesh filename="package://iCub/meshes/simmechanics/sim_sea_2-5_l_foot_prt-binary.stl" scale="0.001 0.001 0.001"/>
      </geometry>
      <material name="blue">
        <color rgba="0 0 1 1"/>
      </material>
    </visual>
    <collision>
      <origin xyz="0.0437089996186 -0.0701000001908 0.587138" rpy="1.57079632679 0 1.57079632679"/>
      <geometry>
        <mesh filename="package://iCub/meshes/simmechanics/sim_sea_2-5_l_foot_prt-binary.stl" scale="0.001 0.001 0.001"/>
      </geometry>
    </collision>
  </link>
  <joint name="l_ankle_roll" type="revolute">
    <origin xyz="0 0 0" rpy="0 0 0"/>
    <axis xyz="1.0 0.0 2.22044604925e-16"/>
    <parent link="l_ankle_1"/>
    <child link="l_ankle_2"/>
    <limit effort="37.0" lower="-0.436332312999" upper="0.436332312999" velocity="7.64"/>
    <dynamics damping="1.0" friction="0.0"/>
  </joint>
  <link name="l_foot">
    <inertial>
      <origin xyz="0.0336668 -0.0053736 -0.001164" rpy="-1.57079632679 0 -1.57079632679"/>
      <mass value="0.382968"/>
      <inertia ixx="0.00121242" ixy="-3.69533e-07" ixz="5.79273e-05" iyy="0.00141712" iyz="-7.64972e-06" izz="0.000273846"/>
    </inertial>
    <visual>
      <origin xyz="0.0472089996186 0.0701000001908 -0.647438000286" rpy="-1.57079632679 0 -1.57079632679"/>
      <geometry>
        <mesh filename="package://iCub/meshes/simmechanics/sim_sea_2-5_l_sole_prt-binary.stl" scale="0.001 0.001 0.001"/>
      </geometry>
      <material name="yellow">
        <color rgba="1 1 0 1"/>
      </material>
    </visual>
    <collision>
      <origin xyz="0.03 -0.005 0.014" rpy="0.0 0.0 0.0"/>
      <geometry>
        <box size="0.16 0.072 0.001"/>
      </geometry>
    </collision>
  </link>
  <joint name="l_foot_ft_sensor" type="fixed">
    <origin xyz="-0.0035 0 -0.0605" rpy="3.14159265359 0 0"/>
    <parent link="l_ankle_2"/>
    <child link="l_foot"/>
    <dynamics damping="0.1"/>
  </joint>
  <link name="l_sole"/>
  <joint name="l_sole_fixed_joint" type="fixed">
    <origin xyz="0.0035 0 0.004" rpy="-3.14159265359 0 0"/>
    <parent link="l_foot"/>
    <child link="l_sole"/>
    <dynamics damping="0.1"/>
  </joint>
  <link name="l_sole_skin_0"/>
  <joint name="l_sole_skin_0_fixed_joint" type="fixed">
    <origin xyz="0.0932087 0.032368 0.0075" rpy="0 0 0"/>
    <parent link="l_foot"/>
    <child link="l_sole_skin_0"/>
    <dynamics damping="0.1"/>
  </joint>
  <link name="l_sole_skin_1"/>
  <joint name="l_sole_skin_1_fixed_joint" type="fixed">
    <origin xyz="0.0788511 0.0194399 0.0075" rpy="0 0 0"/>
    <parent link="l_foot"/>
    <child link="l_sole_skin_1"/>
    <dynamics damping="0.1"/>
  </joint>
  <link name="l_sole_skin_2"/>
  <joint name="l_sole_skin_2_fixed_joint" type="fixed">
    <origin xyz="0.0604767 0.0254106 0.0075" rpy="0 0 0"/>
    <parent link="l_foot"/>
    <child link="l_sole_skin_2"/>
    <dynamics damping="0.1"/>
  </joint>
  <link name="l_sole_skin_3"/>
  <joint name="l_sole_skin_3_fixed_joint" type="fixed">
    <origin xyz="0.04611917 0.0124825 0.0075" rpy="0 0 0"/>
    <parent link="l_foot"/>
    <child link="l_sole_skin_3"/>
    <dynamics damping="0.1"/>
  </joint>
  <link name="l_sole_skin_4"/>
  <joint name="l_sole_skin_4_fixed_joint" type="fixed">
    <origin xyz="0.05013603 -0.0064148 0.0075" rpy="0 0 0"/>
    <parent link="l_foot"/>
    <child link="l_sole_skin_4"/>
    <dynamics damping="0.1"/>
  </joint>
  <link name="l_sole_skin_8"/>
  <joint name="l_sole_skin_8_fixed_joint" type="fixed">
    <origin xyz="0.0725273 -0.031283 0.0075" rpy="0 0 0"/>
    <parent link="l_foot"/>
    <child link="l_sole_skin_8"/>
    <dynamics damping="0.1"/>
  </joint>
  <link name="l_sole_skin_9"/>
  <joint name="l_sole_skin_9_fixed_joint" type="fixed">
    <origin xyz="0.0909017 -0.037254 0.0075" rpy="0 0 0"/>
    <parent link="l_foot"/>
    <child link="l_sole_skin_9"/>
    <dynamics damping="0.1"/>
  </joint>
  <link name="l_sole_skin_10"/>
  <joint name="l_sole_skin_10_fixed_joint" type="fixed">
    <origin xyz="0.1052593 -0.0243254 0.0075" rpy="0 0 0"/>
    <parent link="l_foot"/>
    <child link="l_sole_skin_10"/>
    <dynamics damping="0.1"/>
  </joint>
  <link name="l_sole_skin_11"/>
  <joint name="l_sole_skin_11_fixed_joint" type="fixed">
    <origin xyz="0.1012424 -0.0054281 0.0075" rpy="0 0 0"/>
    <parent link="l_foot"/>
    <child link="l_sole_skin_11"/>
    <dynamics damping="0.1"/>
  </joint>
  <link name="l_sole_skin_12"/>
  <joint name="l_sole_skin_12_fixed_joint" type="fixed">
    <origin xyz="0.082868 0.0005426 0.0075" rpy="0 0 0"/>
    <parent link="l_foot"/>
    <child link="l_sole_skin_12"/>
    <dynamics damping="0.1"/>
  </joint>
  <link name="l_sole_skin_13"/>
  <joint name="l_sole_skin_13_fixed_joint" type="fixed">
    <origin xyz="0.0685104 -0.0123855 0.0075" rpy="0 0 0"/>
    <parent link="l_foot"/>
    <child link="l_sole_skin_13"/>
    <dynamics damping="0.1"/>
  </joint>
  <link name="l_sole_skin_14"/>
  <joint name="l_sole_skin_14_fixed_joint" type="fixed">
    <origin xyz="0.1156 0.0074995 0.0075" rpy="0 0 0"/>
    <parent link="l_foot"/>
    <child link="l_sole_skin_14"/>
    <dynamics damping="0.1"/>
  </joint>
  <link name="l_sole_skin_15"/>
  <joint name="l_sole_skin_15_fixed_joint" type="fixed">
    <origin xyz="0.1115831 0.0263973 0.0075" rpy="0 0 0"/>
    <parent link="l_foot"/>
    <child link="l_sole_skin_15"/>
    <dynamics damping="0.1"/>
  </joint>
  <link name="l_sole_skin_17"/>
  <joint name="l_sole_skin_17_fixed_joint" type="fixed">
    <origin xyz="-0.0377192 0.0045384 0.0075" rpy="0 0 0"/>
    <parent link="l_foot"/>
    <child link="l_sole_skin_17"/>
    <dynamics damping="0.1"/>
  </joint>
  <link name="l_sole_skin_18"/>
  <joint name="l_sole_skin_18_fixed_joint" type="fixed">
    <origin xyz="-0.0520767 -0.0083897 0.0075" rpy="0 0 0"/>
    <parent link="l_foot"/>
    <child link="l_sole_skin_18"/>
    <dynamics damping="0.1"/>
  </joint>
  <link name="l_sole_skin_19"/>
  <joint name="l_sole_skin_19_fixed_joint" type="fixed">
    <origin xyz="-0.0480599 -0.027287 0.0075" rpy="0 0 0"/>
    <parent link="l_foot"/>
    <child link="l_sole_skin_19"/>
    <dynamics damping="0.1"/>
  </joint>
  <link name="l_sole_skin_20"/>
  <joint name="l_sole_skin_20_fixed_joint" type="fixed">
    <origin xyz="-0.0296855 -0.033258 0.0075" rpy="0 0 0"/>
    <parent link="l_foot"/>
    <child link="l_sole_skin_20"/>
    <dynamics damping="0.1"/>
  </joint>
  <link name="l_sole_skin_21"/>
  <joint name="l_sole_skin_21_fixed_joint" type="fixed">
    <origin xyz="0.0277448 0.0184532 0.0075" rpy="0 0 0"/>
    <parent link="l_foot"/>
    <child link="l_sole_skin_21"/>
    <dynamics damping="0.1"/>
  </joint>
  <link name="l_sole_skin_22"/>
  <joint name="l_sole_skin_22_fixed_joint" type="fixed">
    <origin xyz="0.0357785 -0.0193429 0.0075" rpy="0 0 0"/>
    <parent link="l_foot"/>
    <child link="l_sole_skin_22"/>
    <dynamics damping="0.1"/>
  </joint>
  <link name="l_sole_skin_24"/>
  <joint name="l_sole_skin_24_fixed_joint" type="fixed">
    <origin xyz="0.0030465 -0.0263003 0.0075" rpy="0 0 0"/>
    <parent link="l_foot"/>
    <child link="l_sole_skin_24"/>
    <dynamics damping="0.1"/>
  </joint>
  <link name="l_sole_skin_25"/>
  <joint name="l_sole_skin_25_fixed_joint" type="fixed">
    <origin xyz="0.0174041 -0.0133722 0.0075" rpy="0 0 0"/>
    <parent link="l_foot"/>
    <child link="l_sole_skin_25"/>
    <dynamics damping="0.1"/>
  </joint>
  <link name="l_sole_skin_26"/>
  <joint name="l_sole_skin_26_fixed_joint" type="fixed">
    <origin xyz="0.0133872 0.0055251 0.0075" rpy="0 0 0"/>
    <parent link="l_foot"/>
    <child link="l_sole_skin_26"/>
    <dynamics damping="0.1"/>
  </joint>
  <link name="l_sole_skin_27"/>
  <joint name="l_sole_skin_27_fixed_joint" type="fixed">
    <origin xyz="-0.0049872 0.0114958 0.0075" rpy="0 0 0"/>
    <parent link="l_foot"/>
    <child link="l_sole_skin_27"/>
    <dynamics damping="0.1"/>
  </joint>
  <link name="l_sole_skin_28"/>
  <joint name="l_sole_skin_28_fixed_joint" type="fixed">
    <origin xyz="-0.0193448 -0.0014323 0.0075" rpy="0 0 0"/>
    <parent link="l_foot"/>
    <child link="l_sole_skin_28"/>
    <dynamics damping="0.1"/>
  </joint>
  <link name="l_sole_skin_29"/>
  <joint name="l_sole_skin_29_fixed_joint" type="fixed">
    <origin xyz="-0.0153279 -0.0203296 0.0075" rpy="0 0 0"/>
    <parent link="l_foot"/>
    <child link="l_sole_skin_29"/>
    <dynamics damping="0.1"/>
  </joint>
  <link name="torso_1">
    <inertial>
      <origin xyz="0.0270921359 0.02914798 -0.0004398" rpy="0 0 0"/>
      <mass value="0.67144"/>
      <inertia ixx="0.00040911" ixy="-1.04522e-06" ixz="-1.02516e-06" iyy="0.000384141" iyz="6.50708e-06" izz="0.000299445"/>
    </inertial>
    <visual>
      <origin xyz="0.0270462998093 0.032 0.0364" rpy="0 0 0"/>
      <geometry>
        <mesh filename="package://iCub/meshes/simmechanics/sim_sea_2-5_lap_belt_1_prt-binary.stl" scale="0.001 0.001 0.001"/>
      </geometry>
      <material name="pink">
        <color rgba="1 0 1 1"/>
      </material>
    </visual>
    <collision>
      <origin xyz="0.0270462998093 0.032 0.0364" rpy="0 0 0"/>
      <geometry>
        <mesh filename="package://iCub/meshes/simmechanics/sim_sea_2-5_lap_belt_1_prt-binary.stl" scale="0.001 0.001 0.001"/>
      </geometry>
    </collision>
  </link>
  <joint name="torso_pitch" type="revolute">
    <origin xyz="0 0.0270463 0" rpy="1.57079632679 0 -1.57079632679"/>
    <axis xyz="1.0 0.0 0.0"/>
    <parent link="root_link"/>
    <child link="torso_1"/>
    <limit effort="50000" lower="-0.349065850399" upper="1.2217304764" velocity="50000"/>
    <dynamics damping="1.0" friction="0.0"/>
  </joint>
  <link name="torso_2">
    <inertial>
      <origin xyz="-0.000113507809265 0.0361525 0.0570963" rpy="0 0 0"/>
      <mass value="0.425685"/>
      <inertia ixx="0.000829234" ixy="2.37006e-08" ixz="9.25231e-08" iyy="0.000436517" iyz="-1.74814e-07" izz="0.000604802"/>
    </inertial>
    <visual>
      <origin xyz="0 0.1433 0.0386531" rpy="0 0 0"/>
      <geometry>
        <mesh filename="package://iCub/meshes/simmechanics/sim_sea_2-5_lap_belt_2_prt-binary.stl" scale="0.001 0.001 0.001"/>
      </geometry>
      <material name="cyan">
        <color rgba="0 1 1 1"/>
      </material>
    </visual>
    <collision>
      <origin xyz="0 0.1433 0.0386531" rpy="0 0 0"/>
      <geometry>
        <mesh filename="package://iCub/meshes/simmechanics/sim_sea_2-5_lap_belt_2_prt-binary.stl" scale="0.001 0.001 0.001"/>
      </geometry>
    </collision>
  </link>
  <joint name="torso_roll" type="revolute">
    <origin xyz="0.0270462998093 0.032 -0.0573446" rpy="0 0 0"/>
    <axis xyz="0.0 0.0 -1.0"/>
    <parent link="torso_1"/>
    <child link="torso_2"/>
    <limit effort="50000" lower="-0.523598775598" upper="0.523598775598" velocity="50000"/>
    <dynamics damping="1.0" friction="0.0"/>
  </joint>
  <link name="chest">
    <inertial>
      <origin xyz="0.000188619190735 0.073091 -0.0472381" rpy="0 0 0"/>
      <mass value="7.638"/>
      <inertia ixx="0.0430324878618" ixy="2.91075388804e-05" ixz="0.000181985229949" iyy="0.0440835725548" iyz="-0.000429106409108" izz="0.0260563249911"/>
    </inertial>
    <visual>
      <origin xyz="0 0.0928 -0.024189" rpy="0 0 0"/>
      <geometry>
        <mesh filename="package://iCub/meshes/simmechanics/sim_sea_2-5_chest_bb_prt-binary.stl" scale="0.001 0.001 0.001"/>
      </geometry>
      <material name="green">
        <color rgba="0 1 0 1"/>
      </material>
    </visual>
    <collision>
      <origin xyz="0 0.0928 -0.024189" rpy="0 0 0"/>
      <geometry>
        <mesh filename="package://iCub/meshes/simmechanics/sim_sea_2-5_chest_bb_prt-binary.stl" scale="0.001 0.001 0.001"/>
      </geometry>
    </collision>
  </link>
  <joint name="torso_yaw" type="revolute">
    <origin xyz="0 0.05 0.0628421" rpy="0 0 0"/>
    <axis xyz="0.0 -1.0 0.0"/>
    <parent link="torso_2"/>
    <child link="chest"/>
    <limit effort="50000" lower="-0.872664625997" upper="0.872664625997" velocity="50000"/>
    <dynamics damping="1.0" friction="0.0"/>
  </joint>
  <link name="r_shoulder_1">
    <inertial>
      <origin xyz="-0.0122656014133 3.2e-05 -0.00321064290449" rpy="0 0 0"/>
      <mass value="0.114862"/>
      <inertia ixx="0.01" ixy="-1.65173e-08" ixz="-3.55626e-06" iyy="0.01" iyz="-6.13337e-08" izz="0.01"/>
    </inertial>
    <visual>
      <origin xyz="0.0990079253076 0 -0.0265292487558" rpy="0 0 0"/>
      <geometry>
        <mesh filename="package://iCub/meshes/simmechanics/sim_sea_2-5_r_shoulder_1_prt-binary.stl" scale="0.001 0.001 0.001"/>
      </geometry>
      <material name="white">
        <color rgba="1 1 1 1"/>
      </material>
    </visual>
    <collision>
      <origin xyz="0.0990079253076 0 -0.0265292487558" rpy="0 0 0"/>
      <geometry>
        <mesh filename="package://iCub/meshes/simmechanics/sim_sea_2-5_r_shoulder_1_prt-binary.stl" scale="0.001 0.001 0.001"/>
      </geometry>
    </collision>
  </link>
  <joint name="r_shoulder_pitch" type="revolute">
    <origin xyz="-0.120015999809 0.0928 0.0079693" rpy="0 -0.523598883792 3.14159265359"/>
    <axis xyz="-0.965925926173 0.0 0.258819275525"/>
    <parent link="chest"/>
    <child link="r_shoulder_1"/>
    <limit effort="50000" lower="-1.66678943565" upper="0.174532925199" velocity="50000"/>
    <dynamics damping="1.0" friction="0.0"/>
  </joint>
  <link name="r_shoulder_2">
    <inertial>
      <origin xyz="-0.0214141709438 0.000271725272551 -0.0194402344535" rpy="0 0 0"/>
      <mass value="0.238162"/>
      <inertia ixx="0.01" ixy="-1.12091e-07" ixz="1.02574e-05" iyy="0.01" iyz="1.19785e-06" izz="0.01"/>
    </inertial>
    <visual>
      <origin xyz="0.106587808568 2.31914715418e-07 -0.0407392121175" rpy="0 0 0"/>
      <geometry>
        <mesh filename="package://iCub/meshes/simmechanics/sim_sea_2-5_r_shoulder_2_prt-binary.stl" scale="0.001 0.001 0.001"/>
      </geometry>
      <material name="dblue">
        <color rgba="0 0 0.8 1"/>
      </material>
    </visual>
    <collision>
      <origin xyz="0.106587808568 2.31914715418e-07 -0.0407392121175" rpy="0 0 0"/>
      <geometry>
        <mesh filename="package://iCub/meshes/simmechanics/sim_sea_2-5_r_shoulder_2_prt-binary.stl" scale="0.001 0.001 0.001"/>
      </geometry>
    </collision>
  </link>
  <joint name="r_shoulder_roll" type="revolute">
    <origin xyz="-0.00758046573227 0 0.0142102463639" rpy="-0.270597611583 -0.252680154648 -1.50155680035"/>
    <axis xyz="-0.258819 -2.77555756156e-17 -0.965926"/>
    <parent link="r_shoulder_1"/>
    <child link="r_shoulder_2"/>
    <limit effort="50000" lower="0.0" upper="2.80648943721" velocity="50000"/>
    <dynamics damping="1.0" friction="0.0"/>
  </joint>
  <link name="r_shoulder_3">
    <inertial>
      <origin xyz="-0.0267620766871 -6.99999999998e-06 0.0146999207713" rpy="0 0 0"/>
      <mass value="0.35913"/>
      <inertia ixx="0.01" ixy="3.60361e-07" ixz="4.94445e-05" iyy="0.01" iyz="2.65919e-07" izz="0.01"/>
    </inertial>
    <visual>
      <origin xyz="0.131933879164 0 -0.0353515667647" rpy="0 0 0"/>
      <geometry>
        <mesh filename="package://iCub/meshes/simmechanics/sim_sea_2-5_r_upper_arm_prt-binary.stl" scale="0.001 0.001 0.001"/>
      </geometry>
      <material name="dgreen">
        <color rgba="0.1 0.8 0.1 1"/>
      </material>
    </visual>
    <collision>
      <origin xyz="0.131933879164 0 -0.0353515667647" rpy="0 0 0"/>
      <geometry>
        <mesh filename="package://iCub/meshes/simmechanics/sim_sea_2-5_r_upper_arm_prt-binary.stl" scale="0.001 0.001 0.001"/>
      </geometry>
    </collision>
  </link>
  <joint name="r_shoulder_yaw" type="revolute">
    <origin xyz="-0.0253460713232 2.32750427306e-07 -0.00538764806457" rpy="-0.252689546175 0.0085186183214 0.067039889142"/>
    <axis xyz="0.965925843882 -2.22044604925e-16 -0.258818979447"/>
    <parent link="r_shoulder_2"/>
    <child link="r_shoulder_3"/>
    <limit effort="50000" lower="-0.645771823238" upper="1.3962634016" velocity="50000"/>
    <dynamics damping="1.0" friction="0.0"/>
  </joint>
  <link name="r_upper_arm">
    <inertial>
      <origin xyz="-0.006087 0.000126 0.0293121" rpy="0 1.30899700697 0"/>
      <mass value="0.745104"/>
      <inertia ixx="0.000509527" ixy="1.19292e-06" ixz="-1.17426e-05" iyy="0.000668487" iyz="1.13363e-06" izz="0.000599254"/>
    </inertial>
    <visual>
      <origin xyz="-0.015 0 -0.1933" rpy="0 1.30899700697 0"/>
      <geometry>
        <mesh filename="package://iCub/meshes/simmechanics/sim_sea_2-5_r_elbow_prt-binary.stl" scale="0.001 0.001 0.001"/>
      </geometry>
      <material name="gray">
        <color rgba="0.5 0.5 0.5 1"/>
      </material>
    </visual>
    <collision>
      <origin xyz="-0.015 0 -0.1933" rpy="0 1.30899700697 0"/>
      <geometry>
        <mesh filename="package://iCub/meshes/simmechanics/sim_sea_2-5_r_elbow_prt-binary.stl" scale="0.001 0.001 0.001"/>
      </geometry>
    </collision>
  </link>
  <joint name="r_arm_ft_sensor" type="fixed">
    <origin xyz="-0.0508973017665 0 0.0291670296206" rpy="0 -1.30899700697 0"/>
    <parent link="r_shoulder_3"/>
    <child link="r_upper_arm"/>
    <dynamics damping="0.1"/>
  </joint>
  <link name="r_elbow_1">
    <inertial>
      <origin xyz="-0.00673912932843 0.0188019 -0.00465769236154" rpy="0 0 0"/>
      <mass value="0.267903"/>
      <inertia ixx="0.01" ixy="7.36974e-06" ixz="-1.04536e-05" iyy="0.01" iyz="3.92498e-06" izz="0.01"/>
    </inertial>
    <visual>
      <origin xyz="0.259390463317 0.0224999 -0.0850325886962" rpy="0 0 0"/>
      <geometry>
        <mesh filename="package://iCub/meshes/simmechanics/sim_sea_2-5_r_elbow_prosup_prt-binary.stl" scale="0.001 0.001 0.001"/>
      </geometry>
      <material name="green">
        <color rgba="0 1 0 1"/>
      </material>
    </visual>
    <collision>
      <origin xyz="0.259390463317 0.0224999 -0.0850325886962" rpy="0 0 0"/>
      <geometry>
        <mesh filename="package://iCub/meshes/simmechanics/sim_sea_2-5_r_elbow_prosup_prt-binary.stl" scale="0.001 0.001 0.001"/>
      </geometry>
    </collision>
  </link>
  <joint name="r_elbow" type="revolute">
    <origin xyz="0 -0.0224999 0.07926" rpy="0 1.30899700697 0"/>
    <axis xyz="2.22044604925e-16 1.0 0.0"/>
    <parent link="r_upper_arm"/>
    <child link="r_elbow_1"/>
    <limit effort="50000" lower="0.261799387799" upper="1.85004900711" velocity="50000"/>
    <dynamics damping="1.0" friction="0.0"/>
  </joint>
  <link name="r_forearm">
    <inertial>
      <origin xyz="-0.0404391133886 -0.000328 0.00532733448387" rpy="0 0 0"/>
      <mass value="0.6347"/>
      <inertia ixx="0.000370044" ixy="-1.65419e-06" ixz="0.00010538" iyy="0.000672279" iyz="1.1456e-06" izz="0.000553637"/>
    </inertial>
    <visual>
      <origin xyz="0.296886967375 0 -0.0795506015227" rpy="0 0 0"/>
      <geometry>
        <mesh filename="package://iCub/meshes/simmechanics/sim_sea_2-5_r_forearm_prt-binary.stl" scale="0.001 0.001 0.001"/>
      </geometry>
      <material name="black">
        <color rgba="0 0 0 1"/>
      </material>
    </visual>
    <collision>
      <origin xyz="0.296886967375 0 -0.0795506015227" rpy="0 0 0"/>
      <geometry>
        <mesh filename="package://iCub/meshes/simmechanics/sim_sea_2-5_r_forearm_prt-binary.stl" scale="0.001 0.001 0.001"/>
      </geometry>
    </collision>
  </link>
  <joint name="r_wrist_prosup" type="revolute">
    <origin xyz="-0.0384624299027 0.0224999 -0.00522316819403" rpy="0 0 0"/>
    <axis xyz="0.965925843882 -2.22044604925e-16 -0.258818979447"/>
    <parent link="r_elbow_1"/>
    <child link="r_forearm"/>
    <limit effort="50000" lower="-1.0471975512" upper="1.0471975512" velocity="50000"/>
    <dynamics damping="1.0" friction="0.0"/>
  </joint>
  <link name="r_forearm_skin_0"/>
  <joint name="r_forearm_skin_0_fixed_joint" type="fixed">
    <origin xyz="-0.0454493286618 0.030077 -0.00628656037901" rpy="1.69181522292 -0.271026744341 -3.06880438227"/>
    <parent link="r_forearm"/>
    <child link="r_forearm_skin_0"/>
    <dynamics damping="0.1"/>
  </joint>
  <link name="r_forearm_skin_1"/>
  <joint name="r_forearm_skin_1_fixed_joint" type="fixed">
    <origin xyz="-0.0333728935826 0.028826 -0.0198456867711" rpy="1.86694023278 -0.274442533764 -3.09946977984"/>
    <parent link="r_forearm"/>
    <child link="r_forearm_skin_1"/>
    <dynamics damping="0.1"/>
  </joint>
  <link name="r_forearm_skin_2"/>
  <joint name="r_forearm_skin_2_fixed_joint" type="fixed">
    <origin xyz="-0.0146988929852 0.031279 -0.0160117338371" rpy="1.72847287019 -0.264015219116 -3.12733260687"/>
    <parent link="r_forearm"/>
    <child link="r_forearm_skin_2"/>
    <dynamics damping="0.1"/>
  </joint>
  <link name="r_forearm_skin_3"/>
  <joint name="r_forearm_skin_3_fixed_joint" type="fixed">
    <origin xyz="-0.045567293622 -0.030891 -0.00633000929351" rpy="-1.69487280859 -0.269757727104 3.07959743574"/>
    <parent link="r_forearm"/>
    <child link="r_forearm_skin_3"/>
    <dynamics damping="0.1"/>
  </joint>
  <link name="r_forearm_skin_4"/>
  <joint name="r_forearm_skin_4_fixed_joint" type="fixed">
    <origin xyz="-0.0635326332996 -0.0281163 -0.00899784258066" rpy="-1.80734960194 -0.0393131796327 2.97997643632"/>
    <parent link="r_forearm"/>
    <child link="r_forearm_skin_4"/>
    <dynamics damping="0.1"/>
  </joint>
  <link name="r_forearm_skin_5"/>
  <joint name="r_forearm_skin_5_fixed_joint" type="fixed">
    <origin xyz="-0.0688211941968 -0.0179483 -0.0231133361791" rpy="-2.5410475806 -0.385627260642 3.05486989667"/>
    <parent link="r_forearm"/>
    <child link="r_forearm_skin_5"/>
    <dynamics damping="0.1"/>
  </joint>
  <link name="r_forearm_skin_6"/>
  <joint name="r_forearm_skin_6_fixed_joint" type="fixed">
    <origin xyz="-0.0333948436255 -0.0295479 -0.0198325583433" rpy="-1.86628164653 -0.272886336181 3.10448585021"/>
    <parent link="r_forearm"/>
    <child link="r_forearm_skin_6"/>
    <dynamics damping="0.1"/>
  </joint>
  <link name="r_forearm_skin_7"/>
  <joint name="r_forearm_skin_7_fixed_joint" type="fixed">
    <origin xyz="-0.0147224260074 -0.0319422 -0.0159326482703" rpy="-1.72564640857 -0.263992900722 3.12721254266"/>
    <parent link="r_forearm"/>
    <child link="r_forearm_skin_7"/>
    <dynamics damping="0.1"/>
  </joint>
  <link name="r_forearm_skin_8"/>
  <joint name="r_forearm_skin_8_fixed_joint" type="fixed">
    <origin xyz="-0.0228528628554 -0.0097862 -0.041885146375" rpy="-2.94801979137 -0.270605090512 3.13980557285"/>
    <parent link="r_forearm"/>
    <child link="r_forearm_skin_8"/>
    <dynamics damping="0.1"/>
  </joint>
  <link name="r_forearm_skin_9"/>
  <joint name="r_forearm_skin_9_fixed_joint" type="fixed">
    <origin xyz="-0.0376032734683 -0.018955 -0.0340163371186" rpy="-2.58406517708 -0.2933217196 3.12128407396"/>
    <parent link="r_forearm"/>
    <child link="r_forearm_skin_9"/>
    <dynamics damping="0.1"/>
  </joint>
  <link name="r_forearm_skin_10"/>
  <joint name="r_forearm_skin_10_fixed_joint" type="fixed">
    <origin xyz="-0.0542285210888 -0.0097861 -0.0321469082866" rpy="-2.94123313406 -0.328304471922 3.1276263754"/>
    <parent link="r_forearm"/>
    <child link="r_forearm_skin_10"/>
    <dynamics damping="0.1"/>
  </joint>
  <link name="r_forearm_skin_11"/>
  <joint name="r_forearm_skin_11_fixed_joint" type="fixed">
    <origin xyz="-0.0542240912024 0.009043 -0.0321431259452" rpy="2.93929835957 -0.329101389745 -3.12731916446"/>
    <parent link="r_forearm"/>
    <child link="r_forearm_skin_11"/>
    <dynamics damping="0.1"/>
  </joint>
  <link name="r_forearm_skin_12"/>
  <joint name="r_forearm_skin_12_fixed_joint" type="fixed">
    <origin xyz="-0.0375994633868 0.018216 -0.0340191179961" rpy="2.58303505964 -0.29483050207 -3.12026580314"/>
    <parent link="r_forearm"/>
    <child link="r_forearm_skin_12"/>
    <dynamics damping="0.1"/>
  </joint>
  <link name="r_forearm_skin_13"/>
  <joint name="r_forearm_skin_13_fixed_joint" type="fixed">
    <origin xyz="-0.0228550868405 0.009048 -0.0418919009209" rpy="2.94896679198 -0.270583947189 -3.13981880352"/>
    <parent link="r_forearm"/>
    <child link="r_forearm_skin_13"/>
    <dynamics damping="0.1"/>
  </joint>
  <link name="r_forearm_skin_14"/>
  <joint name="r_forearm_skin_14_fixed_joint" type="fixed">
    <origin xyz="-0.0687703276364 0.01716 -0.0230239558511" rpy="2.48044991868 -0.295542566281 -2.91877349139"/>
    <parent link="r_forearm"/>
    <child link="r_forearm_skin_14"/>
    <dynamics damping="0.1"/>
  </joint>
  <link name="r_forearm_skin_15"/>
  <joint name="r_forearm_skin_15_fixed_joint" type="fixed">
    <origin xyz="-0.0633786419662 0.027145 -0.00879405455544" rpy="1.80492769741 -0.289783281916 -3.02765891428"/>
    <parent link="r_forearm"/>
    <child link="r_forearm_skin_15"/>
    <dynamics damping="0.1"/>
  </joint>
  <link name="r_forearm_skin_16"/>
  <joint name="r_forearm_skin_16_fixed_joint" type="fixed">
    <origin xyz="-0.03792482187 0.030487 0.0206369503605" rpy="1.41280007026 -0.25082462139 -3.06572742343"/>
    <parent link="r_forearm"/>
    <child link="r_forearm_skin_16"/>
    <dynamics damping="0.1"/>
  </joint>
  <link name="r_forearm_skin_17"/>
  <joint name="r_forearm_skin_17_fixed_joint" type="fixed">
    <origin xyz="-0.0543170548821 0.027725 0.0303291240179" rpy="1.27223716205 -0.23059304703 -3.03195542837"/>
    <parent link="r_forearm"/>
    <child link="r_forearm_skin_17"/>
    <dynamics damping="0.1"/>
  </joint>
  <link name="r_forearm_skin_19"/>
  <joint name="r_forearm_skin_19_fixed_joint" type="fixed">
    <origin xyz="-0.0381266107138 -0.0312941 0.020690605393" rpy="-1.41560888703 -0.252569290226 3.07715217889"/>
    <parent link="r_forearm"/>
    <child link="r_forearm_skin_19"/>
    <dynamics damping="0.1"/>
  </joint>
  <link name="r_forearm_skin_22"/>
  <joint name="r_forearm_skin_22_fixed_joint" type="fixed">
    <origin xyz="-0.0544173950421 -0.0287223 0.0306037516609" rpy="-1.2658242728 -0.234328151379 3.04788317971"/>
    <parent link="r_forearm"/>
    <child link="r_forearm_skin_22"/>
    <dynamics damping="0.1"/>
  </joint>
  <link name="r_forearm_skin_24"/>
  <joint name="r_forearm_skin_24_fixed_joint" type="fixed">
    <origin xyz="-0.0700345319564 -0.0097164 0.050069108714" rpy="-0.23489327644 -0.0388172993982 3.08676345459"/>
    <parent link="r_forearm"/>
    <child link="r_forearm_skin_24"/>
    <dynamics damping="0.1"/>
  </joint>
  <link name="r_forearm_skin_25"/>
  <joint name="r_forearm_skin_25_fixed_joint" type="fixed">
    <origin xyz="-0.0535999216295 -0.0182238 0.0454698125045" rpy="-0.564295527715 -0.136980272197 3.05963182792"/>
    <parent link="r_forearm"/>
    <child link="r_forearm_skin_25"/>
    <dynamics damping="0.1"/>
  </joint>
  <link name="r_forearm_skin_28"/>
  <joint name="r_forearm_skin_28_fixed_joint" type="fixed">
    <origin xyz="-0.0535859272148 0.017412 0.045352037397" rpy="0.59077064408 -0.0531607226063 3.10597081167"/>
    <parent link="r_forearm"/>
    <child link="r_forearm_skin_28"/>
    <dynamics damping="0.1"/>
  </joint>
  <link name="r_forearm_skin_29"/>
  <joint name="r_forearm_skin_29_fixed_joint" type="fixed">
    <origin xyz="-0.0700355805031 0.008954 0.0500111036233" rpy="0.248630982209 -0.0383136556786 -3.08328999116"/>
    <parent link="r_forearm"/>
    <child link="r_forearm_skin_29"/>
    <dynamics damping="0.1"/>
  </joint>
  <link name="r_forearm_dh_frame"/>
  <joint name="r_forearm_dh_frame_fixed_joint" type="fixed">
    <origin xyz="-0.102871102373 7.00000000002e-06 0.0275642213111" rpy="-0.261799319827 0 -1.57079632679"/>
    <parent link="r_forearm"/>
    <child link="r_forearm_dh_frame"/>
    <dynamics damping="0.1"/>
  </joint>
  <link name="r_wrist_1">
    <inertial>
      <origin xyz="0.000986101955547 -0.001176 0.00410132736724" rpy="0 0 0"/>
      <mass value="0.0362615"/>
      <inertia ixx="0.01" ixy="-3.10462e-08" ixz="-9.44554e-07" iyy="0.01" iyz="-1.59685e-07" izz="0.01"/>
    </inertial>
    <visual>
      <origin xyz="0.400392176248 -7.00000000009e-06 -0.104748304516" rpy="0 0 0"/>
      <geometry>
        <mesh filename="package://iCub/meshes/simmechanics/sim_sea_2-5_r_wrist_pitch_prt-binary.stl" scale="0.001 0.001 0.001"/>
      </geometry>
      <material name="red">
        <color rgba="1 0 0 1"/>
      </material>
    </visual>
    <collision>
      <origin xyz="0.400392176248 -7.00000000009e-06 -0.104748304516" rpy="0 0 0"/>
      <geometry>
        <mesh filename="package://iCub/meshes/simmechanics/sim_sea_2-5_r_wrist_pitch_prt-binary.stl" scale="0.001 0.001 0.001"/>
      </geometry>
    </collision>
  </link>
  <joint name="r_wrist_pitch" type="revolute">
    <origin xyz="-0.103505208873 7.00000000002e-06 0.0251977029936" rpy="0 0 0"/>
    <axis xyz="0.258818979447 0.0 0.965925843882"/>
    <parent link="r_forearm"/>
    <child link="r_wrist_1"/>
    <limit effort="50000" lower="-1.3962634016" upper="0.436332312999" velocity="50000"/>
    <dynamics damping="1.0" friction="0.0"/>
  </joint>
  <link name="r_hand">
    <inertial>
      <origin xyz="-0.064668163717 0.0056002 0.0226812940918" rpy="0 0 0"/>
      <mass value="0.248289"/>
      <inertia ixx="0.01" ixy="-2.3536e-06" ixz="3.61526e-05" iyy="0.01" iyz="2.07146e-05" izz="0.01"/>
    </inertial>
    <visual>
      <origin xyz="0.399758069749 0.0194929 -0.107114822834" rpy="0 0 0"/>
      <geometry>
        <mesh filename="package://iCub/meshes/simmechanics/sim_sea_2-5_r_hand_prt-binary.stl" scale="0.001 0.001 0.001"/>
      </geometry>
      <material name="blue">
        <color rgba="0 0 1 1"/>
      </material>
    </visual>
    <collision>
      <origin xyz="0.399758069749 0.0194929 -0.107114822834" rpy="0 0 0"/>
      <geometry>
        <mesh filename="package://iCub/meshes/simmechanics/sim_sea_2-5_r_hand_prt-binary.stl" scale="0.001 0.001 0.001"/>
      </geometry>
    </collision>
  </link>
  <joint name="r_wrist_yaw" type="revolute">
    <origin xyz="0.000634106499644 -0.0194999 0.00236651831751" rpy="0 0 0"/>
    <axis xyz="2.22044604925e-16 1.0 0.0"/>
    <parent link="r_wrist_1"/>
    <child link="r_hand"/>
    <limit effort="50000" lower="-0.349065850399" upper="0.436332312999" velocity="50000"/>
    <dynamics damping="1.0" friction="0.0"/>
  </joint>
  <link name="r_hand_dh_frame"/>
  <joint name="r_hand_dh_frame_fixed_joint" type="fixed">
    <origin xyz="-0.0576542978428 -0.0055568 0.0136938323083" rpy="-1.57079632679 -0.261799319827 3.14159265359"/>
    <parent link="r_hand"/>
    <child link="r_hand_dh_frame"/>
    <dynamics damping="0.1"/>
  </joint>
  <link name="l_shoulder_1">
    <inertial>
      <origin xyz="-0.008985 -3.3e-05 -0.0088998" rpy="0 0 0"/>
      <mass value="0.114882"/>
      <inertia ixx="0.01" ixy="-1.77064e-08" ixz="3.55951e-06" iyy="0.01" iyz="6.57597e-08" izz="0.01"/>
    </inertial>
    <visual>
      <origin xyz="-0.120257482 0 -0.032223" rpy="0 0 0"/>
      <geometry>
        <mesh filename="package://iCub/meshes/simmechanics/sim_sea_2-5_l_shoulder_1_prt-binary.stl" scale="0.001 0.001 0.001"/>
      </geometry>
      <material name="yellow">
        <color rgba="1 1 0 1"/>
      </material>
    </visual>
    <collision>
      <origin xyz="-0.120257482 0 -0.032223" rpy="0 0 0"/>
      <geometry>
        <mesh filename="package://iCub/meshes/simmechanics/sim_sea_2-5_l_shoulder_1_prt-binary.stl" scale="0.001 0.001 0.001"/>
      </geometry>
    </collision>
  </link>
  <joint name="l_shoulder_pitch" type="revolute">
    <origin xyz="0.120016000191 0.0928 0.0079693" rpy="0 0 0"/>
    <axis xyz="0.965926 0.0 0.258819"/>
    <parent link="chest"/>
    <child link="l_shoulder_1"/>
    <limit effort="50000" lower="-1.66678943565" upper="0.174532925199" velocity="50000"/>
    <dynamics damping="1.0" friction="0.0"/>
  </joint>
  <link name="l_shoulder_2">
    <inertial>
      <origin xyz="0.0214745951272 0.000268957899687 -0.0194107361535" rpy="0 0 0"/>
      <mass value="0.238162"/>
      <inertia ixx="0.01" ixy="1.19701e-07" ixz="-1.29687e-05" iyy="0.01" iyz="1.20112e-06" izz="0.01"/>
    </inertial>
    <visual>
      <origin xyz="-0.106586691581 1.10800934344e-07 -0.040743380771" rpy="0 0 0"/>
      <geometry>
        <mesh filename="package://iCub/meshes/simmechanics/sim_sea_2-5_l_shoulder_2_prt-binary.stl" scale="0.001 0.001 0.001"/>
      </geometry>
      <material name="pink">
        <color rgba="1 0 1 1"/>
      </material>
    </visual>
    <collision>
      <origin xyz="-0.106586691581 1.10800934344e-07 -0.040743380771" rpy="0 0 0"/>
      <geometry>
        <mesh filename="package://iCub/meshes/simmechanics/sim_sea_2-5_l_shoulder_2_prt-binary.stl" scale="0.001 0.001 0.001"/>
      </geometry>
    </collision>
  </link>
  <joint name="l_shoulder_roll" type="revolute">
    <origin xyz="-0.013671 0 0.0085204" rpy="0.270597317916 0.252680177542 -1.50155688559"/>
    <axis xyz="-0.258819 2.77555756156e-17 0.965926"/>
    <parent link="l_shoulder_1"/>
    <child link="l_shoulder_2"/>
    <limit effort="50000" lower="0.0" upper="2.80648943721" velocity="50000"/>
    <dynamics damping="1.0" friction="0.0"/>
  </joint>
  <link name="l_shoulder_3">
    <inertial>
      <origin xyz="0.026798412222 -1.6e-05 0.0146956806177" rpy="0 0 0"/>
      <mass value="0.35913"/>
      <inertia ixx="0.01" ixy="-2.22441e-07" ixz="-4.95846e-05" iyy="0.01" iyz="1.07538e-07" izz="0.01"/>
    </inertial>
    <visual>
      <origin xyz="-0.131901037685 0 -0.0353427669194" rpy="0 0 0"/>
      <geometry>
        <mesh filename="package://iCub/meshes/simmechanics/sim_sea_2-5_l_upper_arm_prt-binary.stl" scale="0.001 0.001 0.001"/>
      </geometry>
      <material name="cyan">
        <color rgba="0 1 1 1"/>
      </material>
    </visual>
    <collision>
      <origin xyz="-0.131901037685 0 -0.0353427669194" rpy="0 0 0"/>
      <geometry>
        <mesh filename="package://iCub/meshes/simmechanics/sim_sea_2-5_l_upper_arm_prt-binary.stl" scale="0.001 0.001 0.001"/>
      </geometry>
    </collision>
  </link>
  <joint name="l_shoulder_yaw" type="revolute">
    <origin xyz="0.0253143468312 1.11636438205e-07 -0.00540061656265" rpy="-0.252689546175 -0.0085186183214 -0.067039889142"/>
    <axis xyz="0.965925843882 2.22044604925e-16 0.258818979447"/>
    <parent link="l_shoulder_2"/>
    <child link="l_shoulder_3"/>
    <limit effort="50000" lower="-0.645771823238" upper="1.3962634016" velocity="50000"/>
    <dynamics damping="1.0" friction="0.0"/>
  </joint>
  <link name="l_upper_arm">
    <inertial>
      <origin xyz="-0.006121 -0.000189 0.0293684" rpy="0 -1.30899700697 -3.14159265359"/>
      <mass value="0.746799"/>
      <inertia ixx="0.000509731" ixy="-6.90767e-07" ixz="1.20048e-05" iyy="0.00067086" iyz="3.11833e-06" izz="0.000601202"/>
    </inertial>
    <visual>
      <origin xyz="-0.015 0 -0.1933" rpy="0 -1.30899700697 -3.14159265359"/>
      <geometry>
        <mesh filename="package://iCub/meshes/simmechanics/sim_sea_2-5_l_elbow_prt-binary.stl" scale="0.001 0.001 0.001"/>
      </geometry>
      <material name="green">
        <color rgba="0 1 0 1"/>
      </material>
    </visual>
    <collision>
      <origin xyz="-0.015 0 -0.1933" rpy="0 -1.30899700697 -3.14159265359"/>
      <geometry>
        <mesh filename="package://iCub/meshes/simmechanics/sim_sea_2-5_l_elbow_prt-binary.stl" scale="0.001 0.001 0.001"/>
      </geometry>
    </collision>
  </link>
  <joint name="l_arm_ft_sensor" type="fixed">
    <origin xyz="0.0509301432452 0 0.0291758294659" rpy="0 -1.30899700697 3.14159265359"/>
    <parent link="l_shoulder_3"/>
    <child link="l_upper_arm"/>
    <dynamics damping="0.1"/>
  </joint>
  <link name="l_elbow_1">
    <inertial>
      <origin xyz="0.00673912932843 0.0303019 -0.00465769236154" rpy="0 0 0"/>
      <mass value="0.267903"/>
      <inertia ixx="0.01" ixy="-7.37159e-06" ixz="1.04505e-05" iyy="0.01" iyz="3.9319e-06" izz="0.01"/>
    </inertial>
    <visual>
      <origin xyz="-0.259390463317 0.0339999 -0.0850325886962" rpy="0 0 0"/>
      <geometry>
        <mesh filename="package://iCub/meshes/simmechanics/sim_sea_2-5_l_elbow_prosup_prt-binary.stl" scale="0.001 0.001 0.001"/>
      </geometry>
      <material name="white">
        <color rgba="1 1 1 1"/>
      </material>
    </visual>
    <collision>
      <origin xyz="-0.259390463317 0.0339999 -0.0850325886962" rpy="0 0 0"/>
      <geometry>
        <mesh filename="package://iCub/meshes/simmechanics/sim_sea_2-5_l_elbow_prosup_prt-binary.stl" scale="0.001 0.001 0.001"/>
      </geometry>
    </collision>
  </link>
  <joint name="l_elbow" type="revolute">
    <origin xyz="0 0.0339999 0.07926" rpy="0 -1.30899700697 -3.14159265359"/>
    <axis xyz="2.22044604925e-16 -1.0 0.0"/>
    <parent link="l_upper_arm"/>
    <child link="l_elbow_1"/>
    <limit effort="50000" lower="0.261799387799" upper="1.85004900711" velocity="50000"/>
    <dynamics damping="1.0" friction="0.0"/>
  </joint>
  <link name="l_forearm">
    <inertial>
      <origin xyz="0.0404511828823 -0.000686 0.00532363214379" rpy="0 0 0"/>
      <mass value="0.636185"/>
      <inertia ixx="0.000371447" ixy="4.34562e-06" ixz="-0.000105871" iyy="0.000674229" iyz="4.05222e-06" izz="0.000557115"/>
    </inertial>
    <visual>
      <origin xyz="-0.296886967375 0 -0.0795506015227" rpy="0 0 0"/>
      <geometry>
        <mesh filename="package://iCub/meshes/simmechanics/sim_sea_2-5_l_forearm_prt-binary.stl" scale="0.001 0.001 0.001"/>
      </geometry>
      <material name="dblue">
        <color rgba="0 0 0.8 1"/>
      </material>
    </visual>
    <collision>
      <origin xyz="-0.296886967375 0 -0.0795506015227" rpy="0 0 0"/>
      <geometry>
        <mesh filename="package://iCub/meshes/simmechanics/sim_sea_2-5_l_forearm_prt-binary.stl" scale="0.001 0.001 0.001"/>
      </geometry>
    </collision>
  </link>
  <joint name="l_wrist_prosup" type="revolute">
    <origin xyz="0.0384624299027 0.0339999 -0.00522316819403" rpy="0 0 0"/>
    <axis xyz="0.965925843882 2.22044604925e-16 0.258818979447"/>
    <parent link="l_elbow_1"/>
    <child link="l_forearm"/>
    <limit effort="50000" lower="-1.0471975512" upper="1.0471975512" velocity="50000"/>
    <dynamics damping="1.0" friction="0.0"/>
  </joint>
  <link name="l_forearm_skin_0"/>
  <joint name="l_forearm_skin_0_fixed_joint" type="fixed">
    <origin xyz="0.0454493286618 -0.0323169 -0.00628656037901" rpy="1.69181522292 -0.271026744341 0.0727882713185"/>
    <parent link="l_forearm"/>
    <child link="l_forearm_skin_0"/>
    <dynamics damping="0.1"/>
  </joint>
  <link name="l_forearm_skin_1"/>
  <joint name="l_forearm_skin_1_fixed_joint" type="fixed">
    <origin xyz="0.0333728935826 -0.0310662 -0.0198456867711" rpy="1.86694023278 -0.274442533764 0.0421228737473"/>
    <parent link="l_forearm"/>
    <child link="l_forearm_skin_1"/>
    <dynamics damping="0.1"/>
  </joint>
  <link name="l_forearm_skin_2"/>
  <joint name="l_forearm_skin_2_fixed_joint" type="fixed">
    <origin xyz="0.0146988929852 -0.0335184 -0.0160117338371" rpy="1.72847287019 -0.264015219116 0.0142600467197"/>
    <parent link="l_forearm"/>
    <child link="l_forearm_skin_2"/>
    <dynamics damping="0.1"/>
  </joint>
  <link name="l_forearm_skin_3"/>
  <joint name="l_forearm_skin_3_fixed_joint" type="fixed">
    <origin xyz="0.045567293622 0.028651 -0.00633000929351" rpy="-1.69487280859 -0.269757727104 -0.061995217851"/>
    <parent link="l_forearm"/>
    <child link="l_forearm_skin_3"/>
    <dynamics damping="0.1"/>
  </joint>
  <link name="l_forearm_skin_4"/>
  <joint name="l_forearm_skin_4_fixed_joint" type="fixed">
    <origin xyz="0.0635326332996 0.025877 -0.00899784258066" rpy="-1.81747870108 -0.287406884885 -0.0998316152826"/>
    <parent link="l_forearm"/>
    <child link="l_forearm_skin_4"/>
    <dynamics damping="0.1"/>
  </joint>
  <link name="l_forearm_skin_5"/>
  <joint name="l_forearm_skin_5_fixed_joint" type="fixed">
    <origin xyz="0.0688211941968 0.015709 -0.0231133361791" rpy="-2.5410475806 -0.385627260642 -0.0867227569203"/>
    <parent link="l_forearm"/>
    <child link="l_forearm_skin_5"/>
    <dynamics damping="0.1"/>
  </joint>
  <link name="l_forearm_skin_6"/>
  <joint name="l_forearm_skin_6_fixed_joint" type="fixed">
    <origin xyz="0.0333948436255 0.027308 -0.0198325583433" rpy="-1.86628164653 -0.272886336181 -0.0371068033783"/>
    <parent link="l_forearm"/>
    <child link="l_forearm_skin_6"/>
    <dynamics damping="0.1"/>
  </joint>
  <link name="l_forearm_skin_7"/>
  <joint name="l_forearm_skin_7_fixed_joint" type="fixed">
    <origin xyz="0.0147224260074 0.029702 -0.0159326482703" rpy="-1.72564640857 -0.263992900722 -0.0143801109253"/>
    <parent link="l_forearm"/>
    <child link="l_forearm_skin_7"/>
    <dynamics damping="0.1"/>
  </joint>
  <link name="l_forearm_skin_8"/>
  <joint name="l_forearm_skin_8_fixed_joint" type="fixed">
    <origin xyz="0.0228528628554 0.007546 -0.041885146375" rpy="-2.94801979137 -0.270605090512 -0.00178708074348"/>
    <parent link="l_forearm"/>
    <child link="l_forearm_skin_8"/>
    <dynamics damping="0.1"/>
  </joint>
  <link name="l_forearm_skin_9"/>
  <joint name="l_forearm_skin_9_fixed_joint" type="fixed">
    <origin xyz="0.0376032734683 0.016715 -0.0340163371186" rpy="-2.58406517708 -0.2933217196 -0.0203085796276"/>
    <parent link="l_forearm"/>
    <child link="l_forearm_skin_9"/>
    <dynamics damping="0.1"/>
  </joint>
  <link name="l_forearm_skin_10"/>
  <joint name="l_forearm_skin_10_fixed_joint" type="fixed">
    <origin xyz="0.0542285210888 0.007546 -0.0321469082866" rpy="-2.94123313406 -0.328304471922 -0.0139662781936"/>
    <parent link="l_forearm"/>
    <child link="l_forearm_skin_10"/>
    <dynamics damping="0.1"/>
  </joint>
  <link name="l_forearm_skin_11"/>
  <joint name="l_forearm_skin_11_fixed_joint" type="fixed">
    <origin xyz="0.0542240912024 -0.0112832 -0.0321431259452" rpy="2.93929835957 -0.329101389745 0.0142734891292"/>
    <parent link="l_forearm"/>
    <child link="l_forearm_skin_11"/>
    <dynamics damping="0.1"/>
  </joint>
  <link name="l_forearm_skin_12"/>
  <joint name="l_forearm_skin_12_fixed_joint" type="fixed">
    <origin xyz="0.0375994633868 -0.0204556 -0.0340191179961" rpy="2.58303505964 -0.29483050207 0.021326850448"/>
    <parent link="l_forearm"/>
    <child link="l_forearm_skin_12"/>
    <dynamics damping="0.1"/>
  </joint>
  <link name="l_forearm_skin_13"/>
  <joint name="l_forearm_skin_13_fixed_joint" type="fixed">
    <origin xyz="0.0228550868405 -0.0112878 -0.0418919009209" rpy="2.94896679198 -0.270583947189 0.00177385006765"/>
    <parent link="l_forearm"/>
    <child link="l_forearm_skin_13"/>
    <dynamics damping="0.1"/>
  </joint>
  <link name="l_forearm_skin_14"/>
  <joint name="l_forearm_skin_14_fixed_joint" type="fixed">
    <origin xyz="0.0687703276364 -0.0193999 -0.0230239558511" rpy="2.52462250363 -0.387794511771 0.0912924111683"/>
    <parent link="l_forearm"/>
    <child link="l_forearm_skin_14"/>
    <dynamics damping="0.1"/>
  </joint>
  <link name="l_forearm_skin_15"/>
  <joint name="l_forearm_skin_15_fixed_joint" type="fixed">
    <origin xyz="0.0633786419662 -0.0293843 -0.00879405455544" rpy="1.80492769741 -0.289783281916 0.113933739306"/>
    <parent link="l_forearm"/>
    <child link="l_forearm_skin_15"/>
    <dynamics damping="0.1"/>
  </joint>
  <link name="l_forearm_skin_16"/>
  <joint name="l_forearm_skin_16_fixed_joint" type="fixed">
    <origin xyz="0.03792482187 -0.0327268 0.0206369503605" rpy="1.41280007026 -0.25082462139 0.0758652301584"/>
    <parent link="l_forearm"/>
    <child link="l_forearm_skin_16"/>
    <dynamics damping="0.1"/>
  </joint>
  <link name="l_forearm_skin_17"/>
  <joint name="l_forearm_skin_17_fixed_joint" type="fixed">
    <origin xyz="0.0543170548821 -0.0299646 0.0303291240179" rpy="1.27223716205 -0.23059304703 0.109637225219"/>
    <parent link="l_forearm"/>
    <child link="l_forearm_skin_17"/>
    <dynamics damping="0.1"/>
  </joint>
  <link name="l_forearm_skin_19"/>
  <joint name="l_forearm_skin_19_fixed_joint" type="fixed">
    <origin xyz="0.0381266107138 0.029054 0.020690605393" rpy="-1.41560888703 -0.252569290226 -0.0644404747027"/>
    <parent link="l_forearm"/>
    <child link="l_forearm_skin_19"/>
    <dynamics damping="0.1"/>
  </joint>
  <link name="l_forearm_skin_22"/>
  <joint name="l_forearm_skin_22_fixed_joint" type="fixed">
    <origin xyz="0.0544173950421 0.026483 0.0306037516609" rpy="-1.2658242728 -0.234328151379 -0.0937094738802"/>
    <parent link="l_forearm"/>
    <child link="l_forearm_skin_22"/>
    <dynamics damping="0.1"/>
  </joint>
  <link name="l_forearm_skin_24"/>
  <joint name="l_forearm_skin_24_fixed_joint" type="fixed">
    <origin xyz="0.0700345319564 0.007477 0.050069108714" rpy="-0.23489327644 -0.0388172993982 -0.0548291989999"/>
    <parent link="l_forearm"/>
    <child link="l_forearm_skin_24"/>
    <dynamics damping="0.1"/>
  </joint>
  <link name="l_forearm_skin_25"/>
  <joint name="l_forearm_skin_25_fixed_joint" type="fixed">
    <origin xyz="0.0535999216295 0.015984 0.0454698125045" rpy="-0.564295527715 -0.136980272197 -0.0819608256656"/>
    <parent link="l_forearm"/>
    <child link="l_forearm_skin_25"/>
    <dynamics damping="0.1"/>
  </joint>
  <link name="l_forearm_skin_28"/>
  <joint name="l_forearm_skin_28_fixed_joint" type="fixed">
    <origin xyz="0.0535859272148 -0.0196522 0.045352037397" rpy="0.579311106949 -0.133994306778 0.0867597858312"/>
    <parent link="l_forearm"/>
    <child link="l_forearm_skin_28"/>
    <dynamics damping="0.1"/>
  </joint>
  <link name="l_forearm_skin_29"/>
  <joint name="l_forearm_skin_29_fixed_joint" type="fixed">
    <origin xyz="0.0700355805031 -0.0111936 0.0500111036233" rpy="0.248630982209 -0.0383136556786 0.0583026624266"/>
    <parent link="l_forearm"/>
    <child link="l_forearm_skin_29"/>
    <dynamics damping="0.1"/>
  </joint>
  <link name="l_forearm_dh_frame"/>
  <joint name="l_forearm_dh_frame_fixed_joint" type="fixed">
    <origin xyz="0.102871102373 7.00000000002e-06 0.0275642213111" rpy="2.87979333376 0 1.57079632679"/>
    <parent link="l_forearm"/>
    <child link="l_forearm_dh_frame"/>
    <dynamics damping="0.1"/>
  </joint>
  <link name="l_wrist_1">
    <inertial>
      <origin xyz="-0.000981313804428 -0.001178 0.00408345773913" rpy="0 0 0"/>
      <mass value="0.0362152"/>
      <inertia ixx="0.01" ixy="3.08362e-08" ixz="9.42153e-07" iyy="0.01" iyz="-1.58924e-07" izz="0.01"/>
    </inertial>
    <visual>
      <origin xyz="-0.400314530555 -7.00000000009e-06 -0.105038082269" rpy="0 0 0"/>
      <geometry>
        <mesh filename="package://iCub/meshes/simmechanics/sim_sea_2-5_l_wrist_pitch_prt-binary.stl" scale="0.001 0.001 0.001"/>
      </geometry>
      <material name="dgreen">
        <color rgba="0.1 0.8 0.1 1"/>
      </material>
    </visual>
    <collision>
      <origin xyz="-0.400314530555 -7.00000000009e-06 -0.105038082269" rpy="0 0 0"/>
      <geometry>
        <mesh filename="package://iCub/meshes/simmechanics/sim_sea_2-5_l_wrist_pitch_prt-binary.stl" scale="0.001 0.001 0.001"/>
      </geometry>
    </collision>
  </link>
  <joint name="l_wrist_pitch" type="revolute">
    <origin xyz="0.103427563179 7.00000000002e-06 0.0254874807467" rpy="0 0 0"/>
    <axis xyz="0.258818979447 0.0 -0.965925843882"/>
    <parent link="l_forearm"/>
    <child link="l_wrist_1"/>
    <limit effort="50000" lower="-1.3962634016" upper="0.436332312999" velocity="50000"/>
    <dynamics damping="1.0" friction="0.0"/>
  </joint>
  <link name="l_hand">
    <inertial>
      <origin xyz="0.0647680204057 0.0056304 0.0226602208449" rpy="0 0 0"/>
      <mass value="0.247806"/>
      <inertia ixx="0.01" ixy="2.96453e-06" ixz="-3.68906e-05" iyy="0.01" iyz="2.06885e-05" izz="0.01"/>
    </inertial>
    <visual>
      <origin xyz="-0.399680424055 0.0194929 -0.107404600587" rpy="0 0 0"/>
      <geometry>
        <mesh filename="package://iCub/meshes/simmechanics/sim_sea_2-5_l_hand_prt-binary.stl" scale="0.001 0.001 0.001"/>
      </geometry>
      <material name="gray">
        <color rgba="0.5 0.5 0.5 1"/>
      </material>
    </visual>
    <collision>
      <origin xyz="-0.399680424055 0.0194929 -0.107404600587" rpy="0 0 0"/>
      <geometry>
        <mesh filename="package://iCub/meshes/simmechanics/sim_sea_2-5_l_hand_prt-binary.stl" scale="0.001 0.001 0.001"/>
      </geometry>
    </collision>
  </link>
  <joint name="l_wrist_yaw" type="revolute">
    <origin xyz="-0.000634106499644 -0.0194999 0.00236651831751" rpy="0 0 0"/>
    <axis xyz="-2.22044604925e-16 1.0 0.0"/>
    <parent link="l_wrist_1"/>
    <child link="l_hand"/>
    <limit effort="50000" lower="-0.349065850399" upper="0.436332312999" velocity="50000"/>
    <dynamics damping="1.0" friction="0.0"/>
  </joint>
  <link name="l_hand_dh_frame"/>
  <joint name="l_hand_dh_frame_fixed_joint" type="fixed">
    <origin xyz="0.0576542978428 -0.0055568 0.0136938323083" rpy="-1.57079632679 -0.261799319827 0"/>
    <parent link="l_hand"/>
    <child link="l_hand_dh_frame"/>
    <dynamics damping="0.1"/>
  </joint>
  <link name="neck_1">
    <inertial>
      <origin xyz="0.0143705608 0.006567 -0.0063842" rpy="0 0 0"/>
      <mass value="0.125793"/>
      <inertia ixx="0.01" ixy="8.09156e-08" ixz="-3.74998e-08" iyy="0.01" iyz="9.39717e-06" izz="0.01"/>
    </inertial>
    <visual>
      <origin xyz="0.0142999998093 -0.079997 -0.0295008" rpy="0 0 0"/>
      <geometry>
        <mesh filename="package://iCub/meshes/simmechanics/sim_sea_2-5_neck_1_prt-binary.stl" scale="0.001 0.001 0.001"/>
      </geometry>
      <material name="green">
        <color rgba="0 1 0 1"/>
      </material>
    </visual>
    <collision>
      <origin xyz="0.0142999998093 -0.079997 -0.0295008" rpy="0 0 0"/>
      <geometry>
        <mesh filename="package://iCub/meshes/simmechanics/sim_sea_2-5_neck_1_prt-binary.stl" scale="0.001 0.001 0.001"/>
      </geometry>
    </collision>
  </link>
  <joint name="neck_pitch" type="revolute">
    <origin xyz="-0.0142999998093 0.172797 0.0053118" rpy="0 0 0"/>
    <axis xyz="-1.0 0.0 0.0"/>
    <parent link="chest"/>
    <child link="neck_1"/>
    <limit effort="50000" lower="-0.698131700798" upper="0.383972435439" velocity="50000"/>
    <dynamics damping="1.0" friction="0.0"/>
  </joint>
  <link name="neck_2">
    <inertial>
      <origin xyz="-8.8573009265e-05 0.035225 -0.01954527" rpy="0 0 0"/>
      <mass value="0.177087"/>
      <inertia ixx="0.01" ixy="-5.25591e-07" ixz="4.68307e-07" iyy="0.01" iyz="9.81476e-06" izz="0.01"/>
    </inertial>
    <visual>
      <origin xyz="0 -0.089497 -0.05030077" rpy="0 0 0"/>
      <geometry>
        <mesh filename="package://iCub/meshes/simmechanics/sim_sea_2-5_neck_2_prt-binary.stl" scale="0.001 0.001 0.001"/>
      </geometry>
      <material name="black">
        <color rgba="0 0 0 1"/>
      </material>
    </visual>
    <collision>
      <origin xyz="0 -0.089497 -0.05030077" rpy="0 0 0"/>
      <geometry>
        <mesh filename="package://iCub/meshes/simmechanics/sim_sea_2-5_neck_2_prt-binary.stl" scale="0.001 0.001 0.001"/>
      </geometry>
    </collision>
  </link>
  <joint name="neck_roll" type="revolute">
    <origin xyz="0.0142999998093 0.0095 0.02079997" rpy="0 0 0"/>
    <axis xyz="0.0 0.0 1.0"/>
    <parent link="neck_1"/>
    <child link="neck_2"/>
    <limit effort="50000" lower="-0.349065850399" upper="0.349065850399" velocity="50000"/>
    <dynamics damping="1.0" friction="0.0"/>
  </joint>
  <link name="head">
    <inertial>
      <origin xyz="-0.000574157809265 0.113511 -0.0075392" rpy="0 0 0"/>
      <mass value="1.50691"/>
      <inertia ixx="0.00680478" ixy="-1.60267e-05" ixz="7.28166e-05" iyy="0.00634736" iyz="0.000292091" izz="0.00478116"/>
    </inertial>
    <visual>
      <origin xyz="0 -0.067153 -0.0295008" rpy="0 0 0"/>
      <geometry>
        <mesh filename="package://iCub/meshes/simmechanics/sim_sea_2-5_head_prt-binary.stl" scale="0.001 0.001 0.001"/>
      </geometry>
      <material name="red">
        <color rgba="1 0 0 1"/>
      </material>
    </visual>
    <collision>
      <origin xyz="0 -0.067153 -0.0295008" rpy="0 0 0"/>
      <geometry>
        <mesh filename="package://iCub/meshes/simmechanics/sim_sea_2-5_head_prt-binary.stl" scale="0.001 0.001 0.001"/>
      </geometry>
    </collision>
  </link>
  <joint name="neck_yaw" type="revolute">
    <origin xyz="0 -0.022344 -0.02079997" rpy="0 0 0"/>
    <axis xyz="0.0 1.0 0.0"/>
    <parent link="neck_2"/>
    <child link="head"/>
    <limit effort="50000" lower="-0.872664625997" upper="0.872664625997" velocity="50000"/>
    <dynamics damping="1.0" friction="0.0"/>
  </joint>
  <link name="imu_frame"/>
  <joint name="imu_frame_fixed_joint" type="fixed">
    <origin xyz="0.00950000019074 0.133444 0.0093" rpy="-1.57079632679 1.57079632679 0"/>
    <parent link="head"/>
    <child link="imu_frame"/>
    <dynamics damping="0.1"/>
  </joint>
  <link name="base_link"/>
  <joint name="base_fixed_joint" type="fixed">
  <origin xyz="0 0 0" rpy="0 -0 0"/>
  <axis xyz="0 0 0"/>
  <parent link="base_link"/>
  <child link="root_link"/>
</joint>
  <link name="l_foot_dh_frame"/>
  <joint name="l_foot_dh_frame_fixed_joint" type="fixed">
  <origin xyz="0.0 0 0.004" rpy="0 1.5708 0"/>
  <axis xyz="0 0 0"/>
  <parent link="l_foot"/>
  <child link="l_foot_dh_frame"/>
</joint>
  <link name="r_foot_dh_frame"/>
  <joint name="r_foot_dh_frame_fixed_joint" type="fixed">
  <origin xyz="0.0 0 0.004" rpy="0 1.5708 0"/>
  <axis xyz="0 0 0"/>
  <parent link="r_foot"/>
  <child link="r_foot_dh_frame"/>
</joint>
<!--
  <gazebo reference="r_arm_ft_sensor">
  <disableFixedJointLumping>true</disableFixedJointLumping>
</gazebo>
  <gazebo reference="l_arm_ft_sensor">
  <disableFixedJointLumping>true</disableFixedJointLumping>
</gazebo>
  <gazebo reference="r_leg_ft_sensor">
  <disableFixedJointLumping>true</disableFixedJointLumping>
</gazebo>
  <gazebo reference="l_leg_ft_sensor">
  <disableFixedJointLumping>true</disableFixedJointLumping>
</gazebo>
  <gazebo reference="r_foot_ft_sensor">
  <disableFixedJointLumping>true</disableFixedJointLumping>
</gazebo>
  <gazebo reference="l_foot_ft_sensor">
  <disableFixedJointLumping>true</disableFixedJointLumping>
</gazebo>
  <gazebo reference="l_foot">
  <collision> <surface> <bounce>
    <restitution_coefficient>0</restitution_coefficient>
    <threshold>100000</threshold>
  </bounce> </surface> </collision>
  <maxContacts>4</maxContacts>
  <kp>18000000</kp>
  <kd>100</kd>
  <maxVel>100</maxVel>
  <minDepth>0.0001</minDepth>
  <mu1>1</mu1>
  <mu2>1</mu2>
  <fdir1>0 0 0</fdir1>
</gazebo>
  <gazebo reference="r_foot">
  <collision> <surface> <bounce>
    <restitution_coefficient>0</restitution_coefficient>
    <threshold>100000</threshold>
  </bounce> </surface> </collision>
  <maxContacts>4</maxContacts>
  <kp>18000000</kp>
  <kd>100</kd>
  <maxVel>100</maxVel>
  <minDepth>0.0001</minDepth>
  <mu1>1</mu1>
  <mu2>1</mu2>
  <fdir1>0 0 0</fdir1>
</gazebo>
  <gazebo>
<plugin name="iCub_yarp_gazebo_plugin_ACCpart" filename="libgazebo_yarp_distributedinertials.so">
  <yarpConfigurationFile>model://iCub/conf/MTB/gazebo_icub_left_leg_mtb.ini</yarpConfigurationFile>
</plugin>
<plugin name="iCub_yarp_gazebo_plugin_ACCpart" filename="libgazebo_yarp_distributedinertials.so">
  <yarpConfigurationFile>model://iCub/conf/MTB/gazebo_icub_right_leg_mtb.ini</yarpConfigurationFile>
</plugin>
<plugin name="iCub_yarp_gazebo_plugin_ACCpart" filename="libgazebo_yarp_distributedinertials.so">
  <yarpConfigurationFile>model://iCub/conf/MTB/gazebo_icub_left_arm_mtb.ini</yarpConfigurationFile>
</plugin>
<plugin name="iCub_yarp_gazebo_plugin_ACCpart" filename="libgazebo_yarp_distributedinertials.so">
  <yarpConfigurationFile>model://iCub/conf/MTB/gazebo_icub_right_arm_mtb.ini</yarpConfigurationFile>
</plugin>
<plugin name="iCub_yarp_gazebo_plugin_ACCpart" filename="libgazebo_yarp_distributedinertials.so">
  <yarpConfigurationFile>model://iCub/conf/MTB/gazebo_icub_torso_mtb.ini</yarpConfigurationFile>
</plugin>
<plugin name="controlboard_torso" filename="libgazebo_yarp_controlboard.so">
  <yarpConfigurationFile>model://iCub/conf/gazebo_icub_torso.ini</yarpConfigurationFile>
</plugin>
<plugin name="controlboard_head_without_eyes" filename="libgazebo_yarp_controlboard.so">
  <yarpConfigurationFile>model://iCub/conf/gazebo_icub_head_without_eyes.ini</yarpConfigurationFile>
</plugin>
<plugin name="controlboard_left_arm_no_hand" filename="libgazebo_yarp_controlboard.so">
  <yarpConfigurationFile>model://iCub/conf/gazebo_icub_left_arm_no_hand_for_no_hand_model.ini</yarpConfigurationFile>
  <initialConfiguration>-0.52 0.52 0 0.785 0 0 0.0</initialConfiguration>
</plugin>
<plugin name="controlboard_right_arm_no_hand" filename="libgazebo_yarp_controlboard.so">
  <yarpConfigurationFile>model://iCub/conf/gazebo_icub_right_arm_no_hand_for_no_hand_model.ini</yarpConfigurationFile>
  <initialConfiguration>-0.52 0.52 0 0.785 0 0 0.0</initialConfiguration>
</plugin>
<plugin name="controlboard_right_leg" filename="libgazebo_yarp_controlboard.so">
  <yarpConfigurationFile>model://iCub/conf/gazebo_icub_right_leg.ini</yarpConfigurationFile>
</plugin>
<plugin name="controlboard_left_leg" filename="libgazebo_yarp_controlboard.so">
  <yarpConfigurationFile>model://iCub/conf/gazebo_icub_left_leg.ini</yarpConfigurationFile>
</plugin>
<plugin name="apply_external_wrench" filename="libgazebo_yarp_externalwrench.so">
  <robotNamefromConfigFile>model://iCub/conf/gazebo_icub_robotname.ini</robotNamefromConfigFile>
</plugin>
</gazebo>
  <gazebo reference="r_hip_pitch">
   <implicitSpringDamper>1</implicitSpringDamper>
</gazebo>
  <gazebo reference="r_hip_roll">
   <implicitSpringDamper>1</implicitSpringDamper>
</gazebo>
  <gazebo reference="r_hip_yaw">
   <implicitSpringDamper>1</implicitSpringDamper>
</gazebo>
  <gazebo reference="r_knee">
   <implicitSpringDamper>1</implicitSpringDamper>
</gazebo>
  <gazebo reference="r_ankle_pitch">
   <implicitSpringDamper>1</implicitSpringDamper>
</gazebo>
  <gazebo reference="r_ankle_roll">
   <implicitSpringDamper>1</implicitSpringDamper>
</gazebo>
  <gazebo reference="l_hip_pitch">
   <implicitSpringDamper>1</implicitSpringDamper>
</gazebo>
  <gazebo reference="l_hip_roll">
   <implicitSpringDamper>1</implicitSpringDamper>
</gazebo>
  <gazebo reference="l_hip_yaw">
   <implicitSpringDamper>1</implicitSpringDamper>
</gazebo>
  <gazebo reference="l_knee">
   <implicitSpringDamper>1</implicitSpringDamper>
</gazebo>
  <gazebo reference="l_ankle_pitch">
   <implicitSpringDamper>1</implicitSpringDamper>
</gazebo>
  <gazebo reference="l_ankle_roll">
   <implicitSpringDamper>1</implicitSpringDamper>
</gazebo>
  <gazebo reference="torso_pitch">
   <implicitSpringDamper>1</implicitSpringDamper>
</gazebo>
  <gazebo reference="torso_roll">
   <implicitSpringDamper>1</implicitSpringDamper>
</gazebo>
  <gazebo reference="torso_yaw">
   <implicitSpringDamper>1</implicitSpringDamper>
</gazebo>
  <gazebo reference="r_shoulder_pitch">
   <implicitSpringDamper>1</implicitSpringDamper>
</gazebo>
  <gazebo reference="r_shoulder_roll">
   <implicitSpringDamper>1</implicitSpringDamper>
</gazebo>
  <gazebo reference="r_shoulder_yaw">
   <implicitSpringDamper>1</implicitSpringDamper>
</gazebo>
  <gazebo reference="r_elbow">
   <implicitSpringDamper>1</implicitSpringDamper>
</gazebo>
  <gazebo reference="r_wrist_prosup">
   <implicitSpringDamper>1</implicitSpringDamper>
</gazebo>
  <gazebo reference="r_wrist_pitch">
   <implicitSpringDamper>1</implicitSpringDamper>
</gazebo>
  <gazebo reference="r_wrist_yaw">
   <implicitSpringDamper>1</implicitSpringDamper>
</gazebo>
  <gazebo reference="l_shoulder_pitch">
   <implicitSpringDamper>1</implicitSpringDamper>
</gazebo>
  <gazebo reference="l_shoulder_roll">
   <implicitSpringDamper>1</implicitSpringDamper>
</gazebo>
  <gazebo reference="l_shoulder_yaw">
   <implicitSpringDamper>1</implicitSpringDamper>
</gazebo>
  <gazebo reference="l_elbow">
   <implicitSpringDamper>1</implicitSpringDamper>
</gazebo>
  <gazebo reference="l_wrist_prosup">
   <implicitSpringDamper>1</implicitSpringDamper>
</gazebo>
  <gazebo reference="l_wrist_pitch">
   <implicitSpringDamper>1</implicitSpringDamper>
</gazebo>
  <gazebo reference="l_wrist_yaw">
   <implicitSpringDamper>1</implicitSpringDamper>
</gazebo>
  <gazebo reference="neck_pitch">
   <implicitSpringDamper>1</implicitSpringDamper>
</gazebo>
  <gazebo reference="neck_roll">
   <implicitSpringDamper>1</implicitSpringDamper>
</gazebo>
  <gazebo reference="neck_yaw">
   <implicitSpringDamper>1</implicitSpringDamper>
</gazebo>
  <gazebo reference="l_leg_ft_sensor">
    <sensor name="l_leg_ft_sensor" type="force_torque">
      <always_on>1</always_on>
      <update_rate>100</update_rate>
      <force_torque>
        <frame>child</frame>
        <measure_direction>child_to_parent</measure_direction>
      </force_torque>
      <plugin name="left_leg_ft_plugin" filename="libgazebo_yarp_forcetorque.so">
  <yarpConfigurationFile>model://iCub/conf/FT/gazebo_icub_left_leg_ft.ini</yarpConfigurationFile>
</plugin>
    </sensor>
  </gazebo>
  <sensor name="l_leg_ft_sensor" type="force_torque">
    <parent joint="l_leg_ft_sensor"/>
    <force_torque>
      <frame>child</frame>
      <measure_direction>child_to_parent</measure_direction>
    </force_torque>
  </sensor>
  <gazebo reference="r_leg_ft_sensor">
    <sensor name="r_leg_ft_sensor" type="force_torque">
      <always_on>1</always_on>
      <update_rate>100</update_rate>
      <force_torque>
        <frame>child</frame>
        <measure_direction>child_to_parent</measure_direction>
      </force_torque>
      <plugin name="right_leg_ft_plugin" filename="libgazebo_yarp_forcetorque.so">
  <yarpConfigurationFile>model://iCub/conf/FT/gazebo_icub_right_leg_ft.ini</yarpConfigurationFile>
</plugin>
    </sensor>
  </gazebo>
  <sensor name="r_leg_ft_sensor" type="force_torque">
    <parent joint="r_leg_ft_sensor"/>
    <force_torque>
      <frame>child</frame>
      <measure_direction>child_to_parent</measure_direction>
    </force_torque>
  </sensor>
  <gazebo reference="l_foot_ft_sensor">
    <sensor name="l_foot_ft_sensor" type="force_torque">
      <always_on>1</always_on>
      <update_rate>100</update_rate>
      <force_torque>
        <frame>child</frame>
        <measure_direction>child_to_parent</measure_direction>
      </force_torque>
      <plugin name="left_foot_ft_plugin" filename="libgazebo_yarp_forcetorque.so">
  <yarpConfigurationFile>model://iCub/conf/FT/gazebo_icub_left_foot_ft.ini</yarpConfigurationFile>
</plugin>
    </sensor>
  </gazebo>
  <sensor name="l_foot_ft_sensor" type="force_torque">
    <parent joint="l_foot_ft_sensor"/>
    <force_torque>
      <frame>child</frame>
      <measure_direction>child_to_parent</measure_direction>
    </force_torque>
  </sensor>
  <gazebo reference="r_foot_ft_sensor">
    <sensor name="r_foot_ft_sensor" type="force_torque">
      <always_on>1</always_on>
      <update_rate>100</update_rate>
      <force_torque>
        <frame>child</frame>
        <measure_direction>child_to_parent</measure_direction>
      </force_torque>
      <plugin name="right_foot_ft_plugin" filename="libgazebo_yarp_forcetorque.so">
  <yarpConfigurationFile>model://iCub/conf/FT/gazebo_icub_right_foot_ft.ini</yarpConfigurationFile>
</plugin>
    </sensor>
  </gazebo>
  <sensor name="r_foot_ft_sensor" type="force_torque">
    <parent joint="r_foot_ft_sensor"/>
    <force_torque>
      <frame>child</frame>
      <measure_direction>child_to_parent</measure_direction>
    </force_torque>
  </sensor>
  <gazebo reference="l_arm_ft_sensor">
    <sensor name="l_arm_ft_sensor" type="force_torque">
      <always_on>1</always_on>
      <update_rate>100</update_rate>
      <force_torque>
        <frame>child</frame>
        <measure_direction>child_to_parent</measure_direction>
      </force_torque>
      <plugin name="left_arm_ft_plugin" filename="libgazebo_yarp_forcetorque.so">
  <yarpConfigurationFile>model://iCub/conf/FT/gazebo_icub_left_arm_ft.ini</yarpConfigurationFile>
</plugin>
    </sensor>
  </gazebo>
  <sensor name="l_arm_ft_sensor" type="force_torque">
    <parent joint="l_arm_ft_sensor"/>
    <force_torque>
      <frame>child</frame>
      <measure_direction>child_to_parent</measure_direction>
    </force_torque>
  </sensor>
  <gazebo reference="r_arm_ft_sensor">
    <sensor name="r_arm_ft_sensor" type="force_torque">
      <always_on>1</always_on>
      <update_rate>100</update_rate>
      <force_torque>
        <frame>child</frame>
        <measure_direction>child_to_parent</measure_direction>
      </force_torque>
      <plugin name="right_arm_ft_plugin" filename="libgazebo_yarp_forcetorque.so">
  <yarpConfigurationFile>model://iCub/conf/FT/gazebo_icub_right_arm_ft.ini</yarpConfigurationFile>
</plugin>
    </sensor>
  </gazebo>
  <sensor name="r_arm_ft_sensor" type="force_torque">
    <parent joint="r_arm_ft_sensor"/>
    <force_torque>
      <frame>child</frame>
      <measure_direction>child_to_parent</measure_direction>
    </force_torque>
  </sensor>
  <gazebo reference="head">
    <sensor name="head_imu_acc_1x1" type="imu">
      <always_on>1</always_on>
      <update_rate>100</update_rate>
      <pose>0.00950000019074 0.133444 0.0093 -1.57079632679 1.57079632679 0.0</pose>
      <plugin name="iCub_yarp_gazebo_plugin_IMU" filename="libgazebo_yarp_imu.so">
    <yarpConfigurationFile>model://iCub/conf/gazebo_icub_inertial.ini</yarpConfigurationFile>
</plugin>
    </sensor>
  </gazebo>
  <sensor name="head_imu_acc_1x1" type="accelerometer">
    <parent link="head"/>
    <origin rpy="-1.57079632679 1.57079632679 0.0" xyz="0.00950000019074 0.133444 0.0093"/>
  </sensor>
  <gazebo reference="root_link">
    <sensor name="root_link_ems_acc_eb5" type="imu">
      <always_on>1</always_on>
      <update_rate>100</update_rate>
      <pose>0.0493308 -0.0125771 -0.115691 -3.14159265359 1.29154404503 3.14159265359</pose>
      <plugin name="iCub_yarp_gazebo_plugin_ACC" filename="libgazebo_yarp_inertial.so"/>
    </sensor>
  </gazebo>
  <sensor name="root_link_ems_acc_eb5" type="accelerometer">
    <parent link="root_link"/>
    <origin rpy="-3.14159265359 1.29154404503 3.14159265359" xyz="0.0493308 -0.0125771 -0.115691"/>
  </sensor>
  <gazebo reference="root_link">
    <sensor name="root_link_ems_gyro_eb5" type="imu">
      <always_on>1</always_on>
      <update_rate>100</update_rate>
      <pose>0.0493308 -0.0125771 -0.115691 -3.14159265359 1.29154404503 3.14159265359</pose>
    </sensor>
  </gazebo>
  <sensor name="root_link_ems_gyro_eb5" type="gyroscope">
    <parent link="root_link"/>
    <origin rpy="-3.14159265359 1.29154404503 3.14159265359" xyz="0.0493308 -0.0125771 -0.115691"/>
  </sensor>
  <gazebo reference="chest">
    <sensor name="chest_ems_acc_eb1" type="imu">
      <always_on>1</always_on>
      <update_rate>100</update_rate>
      <pose>0.0647855001907 0.064043 -0.0647091 3.1415169123 -0.261799309122 0.000292641880255</pose>
      <plugin name="iCub_yarp_gazebo_plugin_ACC" filename="libgazebo_yarp_inertial.so"/>
    </sensor>
  </gazebo>
  <sensor name="chest_ems_acc_eb1" type="accelerometer">
    <parent link="chest"/>
    <origin rpy="3.1415169123 -0.261799309122 0.000292641880255" xyz="0.0647855001907 0.064043 -0.0647091"/>
  </sensor>
  <gazebo reference="chest">
    <sensor name="chest_ems_gyro_eb1" type="imu">
      <always_on>1</always_on>
      <update_rate>100</update_rate>
      <pose>0.0692016001907 0.064548 -0.0635258 3.1415169123 -0.261799309122 0.000292641880255</pose>
    </sensor>
  </gazebo>
  <sensor name="chest_ems_gyro_eb1" type="gyroscope">
    <parent link="chest"/>
    <origin rpy="3.1415169123 -0.261799309122 0.000292641880255" xyz="0.0692016001907 0.064548 -0.0635258"/>
  </sensor>
  <gazebo reference="chest">
    <sensor name="chest_ems_acc_eb2" type="imu">
      <always_on>1</always_on>
      <update_rate>100</update_rate>
      <pose>0.0204533001907 0.088063 -0.0641645 3.14159050104 0.261799319819 3.14158433678</pose>
      <plugin name="iCub_yarp_gazebo_plugin_ACC" filename="libgazebo_yarp_inertial.so"/>
    </sensor>
  </gazebo>
  <sensor name="chest_ems_acc_eb2" type="accelerometer">
    <parent link="chest"/>
    <origin rpy="3.14159050104 0.261799319819 3.14158433678" xyz="0.0204533001907 0.088063 -0.0641645"/>
  </sensor>
  <gazebo reference="chest">
    <sensor name="chest_ems_gyro_eb2" type="imu">
      <always_on>1</always_on>
      <update_rate>100</update_rate>
      <pose>0.0160371001907 0.087559 -0.0653479 3.14159050104 0.261799319819 3.14158433678</pose>
    </sensor>
  </gazebo>
  <sensor name="chest_ems_gyro_eb2" type="gyroscope">
    <parent link="chest"/>
    <origin rpy="3.14159050104 0.261799319819 3.14158433678" xyz="0.0160371001907 0.087559 -0.0653479"/>
  </sensor>
  <gazebo reference="chest">
    <sensor name="chest_ems_acc_eb3" type="imu">
      <always_on>1</always_on>
      <update_rate>100</update_rate>
      <pose>-0.0230587998093 0.064019 -0.0758985 3.14110916203 0.261100516471 -0.000309071462555</pose>
      <plugin name="iCub_yarp_gazebo_plugin_ACC" filename="libgazebo_yarp_inertial.so"/>
    </sensor>
  </gazebo>
  <sensor name="chest_ems_acc_eb3" type="accelerometer">
    <parent link="chest"/>
    <origin rpy="3.14110916203 0.261100516471 -0.000309071462555" xyz="-0.0230587998093 0.064019 -0.0758985"/>
  </sensor>
  <gazebo reference="chest">
    <sensor name="chest_ems_gyro_eb3" type="imu">
      <always_on>1</always_on>
      <update_rate>100</update_rate>
      <pose>-0.0186416998093 0.064521 -0.0770785 3.14110916203 0.261100516471 -0.000309071462555</pose>
    </sensor>
  </gazebo>
  <sensor name="chest_ems_gyro_eb3" type="gyroscope">
    <parent link="chest"/>
    <origin rpy="3.14110916203 0.261100516471 -0.000309071462555" xyz="-0.0186416998093 0.064521 -0.0770785"/>
  </sensor>
  <gazebo reference="chest">
    <sensor name="chest_ems_acc_eb4" type="imu">
      <always_on>1</always_on>
      <update_rate>100</update_rate>
      <pose>-0.0621620998093 0.088063 -0.0529887 -3.14159050476 -0.261799319819 3.14158433987</pose>
      <plugin name="iCub_yarp_gazebo_plugin_ACC" filename="libgazebo_yarp_inertial.so"/>
    </sensor>
  </gazebo>
  <sensor name="chest_ems_acc_eb4" type="accelerometer">
    <parent link="chest"/>
    <origin rpy="-3.14159050476 -0.261799319819 3.14158433987" xyz="-0.0621620998093 0.088063 -0.0529887"/>
  </sensor>
  <gazebo reference="chest">
    <sensor name="chest_ems_gyro_eb4" type="imu">
      <always_on>1</always_on>
      <update_rate>100</update_rate>
      <pose>-0.0665783998093 0.087559 -0.0518054 -3.14159050476 -0.261799319819 3.14158433987</pose>
    </sensor>
  </gazebo>
  <sensor name="chest_ems_gyro_eb4" type="gyroscope">
    <parent link="chest"/>
    <origin rpy="-3.14159050476 -0.261799319819 3.14158433987" xyz="-0.0665783998093 0.087559 -0.0518054"/>
  </sensor>
  <gazebo reference="chest">
    <sensor name="chest_mtb_acc_0b7" type="imu">
      <always_on>1</always_on>
      <update_rate>100</update_rate>
      <pose>-0.0607539998093 -0.0017836 0.0442341 0.875167771492 0.116363734392 -1.48597350247</pose>
      <plugin name="iCub_yarp_gazebo_plugin_ACC" filename="libgazebo_yarp_inertial.so"/>
    </sensor>
  </gazebo>
  <sensor name="chest_mtb_acc_0b7" type="accelerometer">
    <parent link="chest"/>
    <origin rpy="0.875167771492 0.116363734392 -1.48597350247" xyz="-0.0607539998093 -0.0017836 0.0442341"/>
  </sensor>
  <gazebo reference="chest">
    <sensor name="chest_mtb_acc_0b8" type="imu">
      <always_on>1</always_on>
      <update_rate>100</update_rate>
      <pose>-0.0457046998093 -0.001846 0.0567427 0.500960084689 0.107313688983 -1.4778325291</pose>
      <plugin name="iCub_yarp_gazebo_plugin_ACC" filename="libgazebo_yarp_inertial.so"/>
    </sensor>
  </gazebo>
  <sensor name="chest_mtb_acc_0b8" type="accelerometer">
    <parent link="chest"/>
    <origin rpy="0.500960084689 0.107313688983 -1.4778325291" xyz="-0.0457046998093 -0.001846 0.0567427"/>
  </sensor>
  <gazebo reference="chest">
    <sensor name="chest_mtb_acc_0b9" type="imu">
      <always_on>1</always_on>
      <update_rate>100</update_rate>
      <pose>0.0439036001907 -0.0017841 0.0577221 -0.500959928973 0.107315404248 -1.66376017469</pose>
      <plugin name="iCub_yarp_gazebo_plugin_ACC" filename="libgazebo_yarp_inertial.so"/>
    </sensor>
  </gazebo>
  <sensor name="chest_mtb_acc_0b9" type="accelerometer">
    <parent link="chest"/>
    <origin rpy="-0.500959928973 0.107315404248 -1.66376017469" xyz="0.0439036001907 -0.0017841 0.0577221"/>
  </sensor>
  <gazebo reference="chest">
    <sensor name="chest_mtb_acc_0b10" type="imu">
      <always_on>1</always_on>
      <update_rate>100</update_rate>
      <pose>0.0594286001907 -0.0018543 0.0457981 -0.875168153475 0.116362025479 -1.65561807505</pose>
      <plugin name="iCub_yarp_gazebo_plugin_ACC" filename="libgazebo_yarp_inertial.so"/>
    </sensor>
  </gazebo>
  <sensor name="chest_mtb_acc_0b10" type="accelerometer">
    <parent link="chest"/>
    <origin rpy="-0.875168153475 0.116362025479 -1.65561807505" xyz="0.0594286001907 -0.0018543 0.0457981"/>
  </sensor>
  <gazebo reference="r_upper_arm">
    <sensor name="r_upper_arm_mtb_acc_2b10" type="imu">
      <always_on>1</always_on>
      <update_rate>100</update_rate>
      <pose>-0.0412194 0.029588 0.0295279 1.57079546365 1.57078381225 -2.68257161165</pose>
      <plugin name="iCub_yarp_gazebo_plugin_ACC" filename="libgazebo_yarp_inertial.so"/>
    </sensor>
  </gazebo>
  <sensor name="r_upper_arm_mtb_acc_2b10" type="accelerometer">
    <parent link="r_upper_arm"/>
    <origin rpy="1.57079546365 1.57078381225 -2.68257161165" xyz="-0.0412194 0.029588 0.0295279"/>
  </sensor>
  <gazebo reference="r_upper_arm">
    <sensor name="r_upper_arm_mtb_acc_2b11" type="imu">
      <always_on>1</always_on>
      <update_rate>100</update_rate>
      <pose>-0.0430568 0.02868 0.0760604 -1.57079614695 -1.57050350741 0.459021725219</pose>
      <plugin name="iCub_yarp_gazebo_plugin_ACC" filename="libgazebo_yarp_inertial.so"/>
    </sensor>
  </gazebo>
  <sensor name="r_upper_arm_mtb_acc_2b11" type="accelerometer">
    <parent link="r_upper_arm"/>
    <origin rpy="-1.57079614695 -1.57050350741 0.459021725219" xyz="-0.0430568 0.02868 0.0760604"/>
  </sensor>
  <gazebo reference="r_upper_arm">
    <sensor name="r_upper_arm_mtb_acc_2b12" type="imu">
      <always_on>1</always_on>
      <update_rate>100</update_rate>
      <pose>-0.0430554 0.028681 0.0049922 -1.11177442168 -1.57079632679 0.0</pose>
      <plugin name="iCub_yarp_gazebo_plugin_ACC" filename="libgazebo_yarp_inertial.so"/>
    </sensor>
  </gazebo>
  <sensor name="r_upper_arm_mtb_acc_2b12" type="accelerometer">
    <parent link="r_upper_arm"/>
    <origin rpy="-1.11177442168 -1.57079632679 0.0" xyz="-0.0430554 0.028681 0.0049922"/>
  </sensor>
  <gazebo reference="r_upper_arm">
    <sensor name="r_upper_arm_mtb_acc_2b13" type="imu">
      <always_on>1</always_on>
      <update_rate>100</update_rate>
      <pose>0.010593237 0.02835 -0.010738 1.57079632702 -0.000214520362041 2.47803674451</pose>
      <plugin name="iCub_yarp_gazebo_plugin_ACC" filename="libgazebo_yarp_inertial.so"/>
    </sensor>
  </gazebo>
  <sensor name="r_upper_arm_mtb_acc_2b13" type="accelerometer">
    <parent link="r_upper_arm"/>
    <origin rpy="1.57079632702 -0.000214520362041 2.47803674451" xyz="0.010593237 0.02835 -0.010738"/>
  </sensor>
  <gazebo reference="r_forearm">
    <sensor name="r_forearm_mtb_acc_2b7" type="imu">
      <always_on>1</always_on>
      <update_rate>100</update_rate>
      <pose>-0.0768727847342 0.005497 -0.0110479126068 0.26179949998 0.000370413042328 1.57125816863</pose>
      <plugin name="iCub_yarp_gazebo_plugin_ACC" filename="libgazebo_yarp_inertial.so"/>
    </sensor>
  </gazebo>
  <sensor name="r_forearm_mtb_acc_2b7" type="accelerometer">
    <parent link="r_forearm"/>
    <origin rpy="0.26179949998 0.000370413042328 1.57125816863" xyz="-0.0768727847342 0.005497 -0.0110479126068"/>
  </sensor>
  <gazebo reference="r_forearm">
    <sensor name="r_forearm_mtb_acc_2b8" type="imu">
      <always_on>1</always_on>
      <update_rate>100</update_rate>
      <pose>-0.0514186150796 0.015786 0.0407521537277 -0.661143946092 0.147825248461 0.092070114703</pose>
      <plugin name="iCub_yarp_gazebo_plugin_ACC" filename="libgazebo_yarp_inertial.so"/>
    </sensor>
  </gazebo>
  <sensor name="r_forearm_mtb_acc_2b8" type="accelerometer">
    <parent link="r_forearm"/>
    <origin rpy="-0.661143946092 0.147825248461 0.092070114703" xyz="-0.0514186150796 0.015786 0.0407521537277"/>
  </sensor>
  <gazebo reference="r_forearm">
    <sensor name="r_forearm_mtb_acc_2b9" type="imu">
      <always_on>1</always_on>
      <update_rate>100</update_rate>
      <pose>-0.0216379956759 0.027924 -0.0132490254018 -1.76682626732 0.261191225646 0.054048344372</pose>
      <plugin name="iCub_yarp_gazebo_plugin_ACC" filename="libgazebo_yarp_inertial.so"/>
    </sensor>
  </gazebo>
  <sensor name="r_forearm_mtb_acc_2b9" type="accelerometer">
    <parent link="r_forearm"/>
    <origin rpy="-1.76682626732 0.261191225646 0.054048344372" xyz="-0.0216379956759 0.027924 -0.0132490254018"/>
  </sensor>
  <gazebo reference="l_upper_arm">
    <sensor name="l_upper_arm_mtb_acc_1b10" type="imu">
      <always_on>1</always_on>
      <update_rate>100</update_rate>
      <pose>-0.0430554 -0.028681 0.0295279 -1.57079650664 -1.57050350741 2.68257092837</pose>
      <plugin name="iCub_yarp_gazebo_plugin_ACC" filename="libgazebo_yarp_inertial.so"/>
    </sensor>
  </gazebo>
  <sensor name="l_upper_arm_mtb_acc_1b10" type="accelerometer">
    <parent link="l_upper_arm"/>
    <origin rpy="-1.57079650664 -1.57050350741 2.68257092837" xyz="-0.0430554 -0.028681 0.0295279"/>
  </sensor>
  <gazebo reference="l_upper_arm">
    <sensor name="l_upper_arm_mtb_acc_1b11" type="imu">
      <always_on>1</always_on>
      <update_rate>100</update_rate>
      <pose>-0.0412181 -0.029589 0.0760604 -1.57079650664 -1.57050350741 2.68257092837</pose>
      <plugin name="iCub_yarp_gazebo_plugin_ACC" filename="libgazebo_yarp_inertial.so"/>
    </sensor>
  </gazebo>
  <sensor name="l_upper_arm_mtb_acc_1b11" type="accelerometer">
    <parent link="l_upper_arm"/>
    <origin rpy="-1.57079650664 -1.57050350741 2.68257092837" xyz="-0.0412181 -0.029589 0.0760604"/>
  </sensor>
  <gazebo reference="l_upper_arm">
    <sensor name="l_upper_arm_mtb_acc_1b12" type="imu">
      <always_on>1</always_on>
      <update_rate>100</update_rate>
      <pose>-0.0412194 -0.029588 0.0049921 -1.5707971899 -1.57078381225 2.68257161159</pose>
      <plugin name="iCub_yarp_gazebo_plugin_ACC" filename="libgazebo_yarp_inertial.so"/>
    </sensor>
  </gazebo>
  <sensor name="l_upper_arm_mtb_acc_1b12" type="accelerometer">
    <parent link="l_upper_arm"/>
    <origin rpy="-1.5707971899 -1.57078381225 2.68257161159" xyz="-0.0412194 -0.029588 0.0049921"/>
  </sensor>
  <gazebo reference="l_upper_arm">
    <sensor name="l_upper_arm_mtb_acc_1b13" type="imu">
      <always_on>1</always_on>
      <update_rate>100</update_rate>
      <pose>0.010592709 -0.028351 -0.0086914 -1.57079632657 0.000214520362042 -2.47803674451</pose>
      <plugin name="iCub_yarp_gazebo_plugin_ACC" filename="libgazebo_yarp_inertial.so"/>
    </sensor>
  </gazebo>
  <sensor name="l_upper_arm_mtb_acc_1b13" type="accelerometer">
    <parent link="l_upper_arm"/>
    <origin rpy="-1.57079632657 0.000214520362042 -2.47803674451" xyz="0.010592709 -0.028351 -0.0086914"/>
  </sensor>
  <gazebo reference="l_forearm">
    <sensor name="l_forearm_mtb_acc_1b7" type="imu">
      <always_on>1</always_on>
      <update_rate>100</update_rate>
      <pose>0.0768727847342 -0.005483 -0.0110479126068 0.26179949998 0.000370413042328 -1.57033448496</pose>
      <plugin name="iCub_yarp_gazebo_plugin_ACC" filename="libgazebo_yarp_inertial.so"/>
    </sensor>
  </gazebo>
  <sensor name="l_forearm_mtb_acc_1b7" type="accelerometer">
    <parent link="l_forearm"/>
    <origin rpy="0.26179949998 0.000370413042328 -1.57033448496" xyz="0.0768727847342 -0.005483 -0.0110479126068"/>
  </sensor>
  <gazebo reference="l_forearm">
    <sensor name="l_forearm_mtb_acc_1b8" type="imu">
      <always_on>1</always_on>
      <update_rate>100</update_rate>
      <pose>0.0514241740607 -0.0180279 0.0407507258436 -0.661143946092 0.147825248461 -3.04952253889</pose>
      <plugin name="iCub_yarp_gazebo_plugin_ACC" filename="libgazebo_yarp_inertial.so"/>
    </sensor>
  </gazebo>
  <sensor name="l_forearm_mtb_acc_1b8" type="accelerometer">
    <parent link="l_forearm"/>
    <origin rpy="-0.661143946092 0.147825248461 -3.04952253889" xyz="0.0514241740607 -0.0180279 0.0407507258436"/>
  </sensor>
  <gazebo reference="l_forearm">
    <sensor name="l_forearm_mtb_acc_1b9" type="imu">
      <always_on>1</always_on>
      <update_rate>100</update_rate>
      <pose>0.0220991874996 0.025657 -0.0151174243212 1.76682134218 0.261099829847 3.08752548202</pose>
      <plugin name="iCub_yarp_gazebo_plugin_ACC" filename="libgazebo_yarp_inertial.so"/>
    </sensor>
  </gazebo>
  <sensor name="l_forearm_mtb_acc_1b9" type="accelerometer">
    <parent link="l_forearm"/>
    <origin rpy="1.76682134218 0.261099829847 3.08752548202" xyz="0.0220991874996 0.025657 -0.0151174243212"/>
  </sensor>
  <gazebo reference="r_upper_leg">
    <sensor name="r_upper_leg_ems_acc_eb8" type="imu">
      <always_on>1</always_on>
      <update_rate>100</update_rate>
      <pose>-0.0125751 0.0404072 -0.040227 1.57079632679 1.57079632679 0.0</pose>
      <plugin name="iCub_yarp_gazebo_plugin_ACC" filename="libgazebo_yarp_inertial.so"/>
    </sensor>
  </gazebo>
  <sensor name="r_upper_leg_ems_acc_eb8" type="accelerometer">
    <parent link="r_upper_leg"/>
    <origin rpy="1.57079632679 1.57079632679 0.0" xyz="-0.0125751 0.0404072 -0.040227"/>
  </sensor>
  <gazebo reference="r_upper_leg">
    <sensor name="r_upper_leg_ems_acc_eb11" type="imu">
      <always_on>1</always_on>
      <update_rate>100</update_rate>
      <pose>-0.0125771 -0.040407 -0.083407 1.57079632679 1.57079632679 0.0</pose>
      <plugin name="iCub_yarp_gazebo_plugin_ACC" filename="libgazebo_yarp_inertial.so"/>
    </sensor>
  </gazebo>
  <sensor name="r_upper_leg_ems_acc_eb11" type="accelerometer">
    <parent link="r_upper_leg"/>
    <origin rpy="1.57079632679 1.57079632679 0.0" xyz="-0.0125771 -0.040407 -0.083407"/>
  </sensor>
  <gazebo reference="r_upper_leg">
    <sensor name="r_upper_leg_ems_gyro_eb8" type="imu">
      <always_on>1</always_on>
      <update_rate>100</update_rate>
      <pose>-0.013079 0.0404072 -0.035655 1.57079632679 1.57079632679 0.0</pose>
    </sensor>
  </gazebo>
  <sensor name="r_upper_leg_ems_gyro_eb8" type="gyroscope">
    <parent link="r_upper_leg"/>
    <origin rpy="1.57079632679 1.57079632679 0.0" xyz="-0.013079 0.0404072 -0.035655"/>
  </sensor>
  <gazebo reference="r_upper_leg">
    <sensor name="r_upper_leg_ems_gyro_eb11" type="imu">
      <always_on>1</always_on>
      <update_rate>100</update_rate>
      <pose>-0.013081 -0.040407 -0.087979 1.57079632679 1.57079632679 0.0</pose>
    </sensor>
  </gazebo>
  <sensor name="r_upper_leg_ems_gyro_eb11" type="gyroscope">
    <parent link="r_upper_leg"/>
    <origin rpy="1.57079632679 1.57079632679 0.0" xyz="-0.013081 -0.040407 -0.087979"/>
  </sensor>
  <gazebo reference="r_upper_leg">
    <sensor name="r_upper_leg_mtb_acc_11b1" type="imu">
      <always_on>1</always_on>
      <update_rate>100</update_rate>
      <pose>0.043588612 -0.030195 0.04894 2.52670843803 -1.57044484253 -0.22287382498</pose>
      <plugin name="iCub_yarp_gazebo_plugin_ACC" filename="libgazebo_yarp_inertial.so"/>
    </sensor>
  </gazebo>
  <sensor name="r_upper_leg_mtb_acc_11b1" type="accelerometer">
    <parent link="r_upper_leg"/>
    <origin rpy="2.52670843803 -1.57044484253 -0.22287382498" xyz="0.043588612 -0.030195 0.04894"/>
  </sensor>
  <gazebo reference="r_upper_leg">
    <sensor name="r_upper_leg_mtb_acc_11b2" type="imu">
      <always_on>1</always_on>
      <update_rate>100</update_rate>
      <pose>0.0539467 -0.0064065 0.039056 -3.12940212057 -1.57038181496 -0.273989852569</pose>
      <plugin name="iCub_yarp_gazebo_plugin_ACC" filename="libgazebo_yarp_inertial.so"/>
    </sensor>
  </gazebo>
  <sensor name="r_upper_leg_mtb_acc_11b2" type="accelerometer">
    <parent link="r_upper_leg"/>
    <origin rpy="-3.12940212057 -1.57038181496 -0.273989852569" xyz="0.0539467 -0.0064065 0.039056"/>
  </sensor>
  <gazebo reference="r_upper_leg">
    <sensor name="r_upper_leg_mtb_acc_11b3" type="imu">
      <always_on>1</always_on>
      <update_rate>100</update_rate>
      <pose>0.0538313 -0.0130214 0.003986 -2.87731085451 -1.5703518031 -0.264281823992</pose>
      <plugin name="iCub_yarp_gazebo_plugin_ACC" filename="libgazebo_yarp_inertial.so"/>
    </sensor>
  </gazebo>
  <sensor name="r_upper_leg_mtb_acc_11b3" type="accelerometer">
    <parent link="r_upper_leg"/>
    <origin rpy="-2.87731085451 -1.5703518031 -0.264281823992" xyz="0.0538313 -0.0130214 0.003986"/>
  </sensor>
  <gazebo reference="r_upper_leg">
    <sensor name="r_upper_leg_mtb_acc_11b4" type="imu">
      <always_on>1</always_on>
      <update_rate>100</update_rate>
      <pose>0.0322719 0.0422675 -0.005045 -1.87390998809 -1.57025771326 -0.0808589029571</pose>
      <plugin name="iCub_yarp_gazebo_plugin_ACC" filename="libgazebo_yarp_inertial.so"/>
    </sensor>
  </gazebo>
  <sensor name="r_upper_leg_mtb_acc_11b4" type="accelerometer">
    <parent link="r_upper_leg"/>
    <origin rpy="-1.87390998809 -1.57025771326 -0.0808589029571" xyz="0.0322719 0.0422675 -0.005045"/>
  </sensor>
  <gazebo reference="r_upper_leg">
    <sensor name="r_upper_leg_mtb_acc_11b5" type="imu">
      <always_on>1</always_on>
      <update_rate>100</update_rate>
      <pose>0.0538313 0.0164786 0.003986 -2.87731085451 -1.5703518031 -0.264281823992</pose>
      <plugin name="iCub_yarp_gazebo_plugin_ACC" filename="libgazebo_yarp_inertial.so"/>
    </sensor>
  </gazebo>
  <sensor name="r_upper_leg_mtb_acc_11b5" type="accelerometer">
    <parent link="r_upper_leg"/>
    <origin rpy="-2.87731085451 -1.5703518031 -0.264281823992" xyz="0.0538313 0.0164786 0.003986"/>
  </sensor>
  <gazebo reference="r_upper_leg">
    <sensor name="r_upper_leg_mtb_acc_11b6" type="imu">
      <always_on>1</always_on>
      <update_rate>100</update_rate>
      <pose>-0.0437518 -0.0157594 -0.026565 1.95410275534e-17 1.5703672368 -3.14159265359</pose>
      <plugin name="iCub_yarp_gazebo_plugin_ACC" filename="libgazebo_yarp_inertial.so"/>
    </sensor>
  </gazebo>
  <sensor name="r_upper_leg_mtb_acc_11b6" type="accelerometer">
    <parent link="r_upper_leg"/>
    <origin rpy="1.95410275534e-17 1.5703672368 -3.14159265359" xyz="-0.0437518 -0.0157594 -0.026565"/>
  </sensor>
  <gazebo reference="r_upper_leg">
    <sensor name="r_upper_leg_mtb_acc_11b7" type="imu">
      <always_on>1</always_on>
      <update_rate>100</update_rate>
      <pose>-0.0437518 0.0162386 -0.026566 0.264252523901 1.57035180662 -2.87734010478</pose>
      <plugin name="iCub_yarp_gazebo_plugin_ACC" filename="libgazebo_yarp_inertial.so"/>
    </sensor>
  </gazebo>
  <sensor name="r_upper_leg_mtb_acc_11b7" type="accelerometer">
    <parent link="r_upper_leg"/>
    <origin rpy="0.264252523901 1.57035180662 -2.87734010478" xyz="-0.0437518 0.0162386 -0.026566"/>
  </sensor>
  <gazebo reference="r_lower_leg">
    <sensor name="r_lower_leg_ems_acc_eb9" type="imu">
      <always_on>1</always_on>
      <update_rate>100</update_rate>
      <pose>0.04351373 0.0138396 -0.092765 -3.14159265359 -1.35262978345 -8.47684971046e-16</pose>
      <plugin name="iCub_yarp_gazebo_plugin_ACC" filename="libgazebo_yarp_inertial.so"/>
    </sensor>
  </gazebo>
  <sensor name="r_lower_leg_ems_acc_eb9" type="accelerometer">
    <parent link="r_lower_leg"/>
    <origin rpy="-3.14159265359 -1.35262978345 -8.47684971046e-16" xyz="0.04351373 0.0138396 -0.092765"/>
  </sensor>
  <gazebo reference="r_lower_leg">
    <sensor name="r_lower_leg_ems_gyro_eb9" type="imu">
      <always_on>1</always_on>
      <update_rate>100</update_rate>
      <pose>0.044503292 0.0143435 -0.088301 -3.14159265359 -1.35262978345 -8.47684971046e-16</pose>
    </sensor>
  </gazebo>
  <sensor name="r_lower_leg_ems_gyro_eb9" type="gyroscope">
    <parent link="r_lower_leg"/>
    <origin rpy="-3.14159265359 -1.35262978345 -8.47684971046e-16" xyz="0.044503292 0.0143435 -0.088301"/>
  </sensor>
  <gazebo reference="r_lower_leg">
    <sensor name="r_lower_leg_mtb_acc_11b8" type="imu">
      <always_on>1</always_on>
      <update_rate>100</update_rate>
      <pose>0.05362922 -0.0151958 -0.004318 -1.57079699431 -1.5706802101 -1.81514182543</pose>
      <plugin name="iCub_yarp_gazebo_plugin_ACC" filename="libgazebo_yarp_inertial.so"/>
    </sensor>
  </gazebo>
  <sensor name="r_lower_leg_mtb_acc_11b8" type="accelerometer">
    <parent link="r_lower_leg"/>
    <origin rpy="-1.57079699431 -1.5706802101 -1.81514182543" xyz="0.05362922 -0.0151958 -0.004318"/>
  </sensor>
  <gazebo reference="r_lower_leg">
    <sensor name="r_lower_leg_mtb_acc_11b9" type="imu">
      <always_on>1</always_on>
      <update_rate>100</update_rate>
      <pose>0.0537517 0.0157229 -0.004318 -1.57079629188 -1.57068021044 -1.2217307215</pose>
      <plugin name="iCub_yarp_gazebo_plugin_ACC" filename="libgazebo_yarp_inertial.so"/>
    </sensor>
  </gazebo>
  <sensor name="r_lower_leg_mtb_acc_11b9" type="accelerometer">
    <parent link="r_lower_leg"/>
    <origin rpy="-1.57079629188 -1.57068021044 -1.2217307215" xyz="0.0537517 0.0157229 -0.004318"/>
  </sensor>
  <gazebo reference="r_lower_leg">
    <sensor name="r_lower_leg_mtb_acc_11b10" type="imu">
      <always_on>1</always_on>
      <update_rate>100</update_rate>
      <pose>0.0278945 -0.042214 -0.043468 1.83259550627 -1.57079632679 0.0</pose>
      <plugin name="iCub_yarp_gazebo_plugin_ACC" filename="libgazebo_yarp_inertial.so"/>
    </sensor>
  </gazebo>
  <sensor name="r_lower_leg_mtb_acc_11b10" type="accelerometer">
    <parent link="r_lower_leg"/>
    <origin rpy="1.83259550627 -1.57079632679 0.0" xyz="0.0278945 -0.042214 -0.043468"/>
  </sensor>
  <gazebo reference="r_lower_leg">
    <sensor name="r_lower_leg_mtb_acc_11b11" type="imu">
      <always_on>1</always_on>
      <update_rate>100</update_rate>
      <pose>0.0164801 0.042249 -0.092958 -1.57079369547 -1.57068021035 -0.261801810497</pose>
      <plugin name="iCub_yarp_gazebo_plugin_ACC" filename="libgazebo_yarp_inertial.so"/>
    </sensor>
  </gazebo>
  <sensor name="r_lower_leg_mtb_acc_11b11" type="accelerometer">
    <parent link="r_lower_leg"/>
    <origin rpy="-1.57079369547 -1.57068021035 -0.261801810497" xyz="0.0164801 0.042249 -0.092958"/>
  </sensor>
  <gazebo reference="r_foot">
    <sensor name="r_foot_mtb_acc_11b12" type="imu">
      <always_on>1</always_on>
      <update_rate>100</update_rate>
      <pose>0.1034794 -0.0008122 -0.001215 1.46487522971e-16 2.22044521133e-16 -1.57079604303</pose>
      <plugin name="iCub_yarp_gazebo_plugin_ACC" filename="libgazebo_yarp_inertial.so"/>
    </sensor>
  </gazebo>
  <sensor name="r_foot_mtb_acc_11b12" type="accelerometer">
    <parent link="r_foot"/>
    <origin rpy="1.46487522971e-16 2.22044521133e-16 -1.57079604303" xyz="0.1034794 -0.0008122 -0.001215"/>
  </sensor>
  <gazebo reference="r_foot">
    <sensor name="r_foot_mtb_acc_11b13" type="imu">
      <always_on>1</always_on>
      <update_rate>100</update_rate>
      <pose>0.0784794 -0.0118122 -0.001215 2.22044604925e-16 2.22044604925e-16 -1.57079632679</pose>
      <plugin name="iCub_yarp_gazebo_plugin_ACC" filename="libgazebo_yarp_inertial.so"/>
    </sensor>
  </gazebo>
  <sensor name="r_foot_mtb_acc_11b13" type="accelerometer">
    <parent link="r_foot"/>
    <origin rpy="2.22044604925e-16 2.22044604925e-16 -1.57079632679" xyz="0.0784794 -0.0118122 -0.001215"/>
  </sensor>
  <gazebo reference="l_upper_leg">
    <sensor name="l_upper_leg_ems_acc_eb6" type="imu">
      <always_on>1</always_on>
      <update_rate>100</update_rate>
      <pose>-0.0125771 -0.0404072 -0.083407 1.57079632679 1.57079632679 0.0</pose>
      <plugin name="iCub_yarp_gazebo_plugin_ACC" filename="libgazebo_yarp_inertial.so"/>
    </sensor>
  </gazebo>
  <sensor name="l_upper_leg_ems_acc_eb6" type="accelerometer">
    <parent link="l_upper_leg"/>
    <origin rpy="1.57079632679 1.57079632679 0.0" xyz="-0.0125771 -0.0404072 -0.083407"/>
  </sensor>
  <gazebo reference="l_upper_leg">
    <sensor name="l_upper_leg_ems_acc_eb10" type="imu">
      <always_on>1</always_on>
      <update_rate>100</update_rate>
      <pose>-0.0125751 0.040407 -0.040227 -1.57079632679 -1.57079632679 0.0</pose>
      <plugin name="iCub_yarp_gazebo_plugin_ACC" filename="libgazebo_yarp_inertial.so"/>
    </sensor>
  </gazebo>
  <sensor name="l_upper_leg_ems_acc_eb10" type="accelerometer">
    <parent link="l_upper_leg"/>
    <origin rpy="-1.57079632679 -1.57079632679 0.0" xyz="-0.0125751 0.040407 -0.040227"/>
  </sensor>
  <gazebo reference="l_upper_leg">
    <sensor name="l_upper_leg_ems_gyro_eb6" type="imu">
      <always_on>1</always_on>
      <update_rate>100</update_rate>
      <pose>-0.013081 -0.0404072 -0.087979 1.57079632679 1.57079632679 0.0</pose>
    </sensor>
  </gazebo>
  <sensor name="l_upper_leg_ems_gyro_eb6" type="gyroscope">
    <parent link="l_upper_leg"/>
    <origin rpy="1.57079632679 1.57079632679 0.0" xyz="-0.013081 -0.0404072 -0.087979"/>
  </sensor>
  <gazebo reference="l_upper_leg">
    <sensor name="l_upper_leg_ems_gyro_eb10" type="imu">
      <always_on>1</always_on>
      <update_rate>100</update_rate>
      <pose>-0.013079 0.040407 -0.035655 -1.57079632679 -1.57079632679 0.0</pose>
    </sensor>
  </gazebo>
  <sensor name="l_upper_leg_ems_gyro_eb10" type="gyroscope">
    <parent link="l_upper_leg"/>
    <origin rpy="-1.57079632679 -1.57079632679 0.0" xyz="-0.013079 0.040407 -0.035655"/>
  </sensor>
  <gazebo reference="l_upper_leg">
    <sensor name="l_upper_leg_mtb_acc_10b1" type="imu">
      <always_on>1</always_on>
      <update_rate>100</update_rate>
      <pose>0.04200163 0.031565 0.049132 -1.57079551857 -1.57068021034 -0.733039094713</pose>
      <plugin name="iCub_yarp_gazebo_plugin_ACC" filename="libgazebo_yarp_inertial.so"/>
    </sensor>
  </gazebo>
  <sensor name="l_upper_leg_mtb_acc_10b1" type="accelerometer">
    <parent link="l_upper_leg"/>
    <origin rpy="-1.57079551857 -1.57068021034 -0.733039094713" xyz="0.04200163 0.031565 0.049132"/>
  </sensor>
  <gazebo reference="l_upper_leg">
    <sensor name="l_upper_leg_mtb_acc_10b2" type="imu">
      <always_on>1</always_on>
      <update_rate>100</update_rate>
      <pose>0.05352109 0.0077657 0.039252 -1.57079638638 -1.57068021039 -1.3089969474</pose>
      <plugin name="iCub_yarp_gazebo_plugin_ACC" filename="libgazebo_yarp_inertial.so"/>
    </sensor>
  </gazebo>
  <sensor name="l_upper_leg_mtb_acc_10b2" type="accelerometer">
    <parent link="l_upper_leg"/>
    <origin rpy="-1.57079638638 -1.57068021039 -1.3089969474" xyz="0.05352109 0.0077657 0.039252"/>
  </sensor>
  <gazebo reference="l_upper_leg">
    <sensor name="l_upper_leg_mtb_acc_10b3" type="imu">
      <always_on>1</always_on>
      <update_rate>100</update_rate>
      <pose>0.053785 0.0150706 0.004182 3.14159265359 -1.57079632679 0.0</pose>
      <plugin name="iCub_yarp_gazebo_plugin_ACC" filename="libgazebo_yarp_inertial.so"/>
    </sensor>
  </gazebo>
  <sensor name="l_upper_leg_mtb_acc_10b3" type="accelerometer">
    <parent link="l_upper_leg"/>
    <origin rpy="3.14159265359 -1.57079632679 0.0" xyz="0.053785 0.0150706 0.004182"/>
  </sensor>
  <gazebo reference="l_upper_leg">
    <sensor name="l_upper_leg_mtb_acc_10b4" type="imu">
      <always_on>1</always_on>
      <update_rate>100</update_rate>
      <pose>0.053785 -0.0144294 0.004182 3.14159265359 -1.57079632679 0.0</pose>
      <plugin name="iCub_yarp_gazebo_plugin_ACC" filename="libgazebo_yarp_inertial.so"/>
    </sensor>
  </gazebo>
  <sensor name="l_upper_leg_mtb_acc_10b4" type="accelerometer">
    <parent link="l_upper_leg"/>
    <origin rpy="3.14159265359 -1.57079632679 0.0" xyz="0.053785 -0.0144294 0.004182"/>
  </sensor>
  <gazebo reference="l_upper_leg">
    <sensor name="l_upper_leg_mtb_acc_10b5" type="imu">
      <always_on>1</always_on>
      <update_rate>100</update_rate>
      <pose>0.03412949 -0.0414999 -0.004858 1.95476889104 -1.57079632679 0.0</pose>
      <plugin name="iCub_yarp_gazebo_plugin_ACC" filename="libgazebo_yarp_inertial.so"/>
    </sensor>
  </gazebo>
  <sensor name="l_upper_leg_mtb_acc_10b5" type="accelerometer">
    <parent link="l_upper_leg"/>
    <origin rpy="1.95476889104 -1.57079632679 0.0" xyz="0.03412949 -0.0414999 -0.004858"/>
  </sensor>
  <gazebo reference="l_upper_leg">
    <sensor name="l_upper_leg_mtb_acc_10b6" type="imu">
      <always_on>1</always_on>
      <update_rate>100</update_rate>
      <pose>-0.043785 0.0178111 -0.026411 -1.57079632679 1.57077431394 1.57079632679</pose>
      <plugin name="iCub_yarp_gazebo_plugin_ACC" filename="libgazebo_yarp_inertial.so"/>
    </sensor>
  </gazebo>
  <sensor name="l_upper_leg_mtb_acc_10b6" type="accelerometer">
    <parent link="l_upper_leg"/>
    <origin rpy="-1.57079632679 1.57077431394 1.57079632679" xyz="-0.043785 0.0178111 -0.026411"/>
  </sensor>
  <gazebo reference="l_upper_leg">
    <sensor name="l_upper_leg_mtb_acc_10b7" type="imu">
      <always_on>1</always_on>
      <update_rate>100</update_rate>
      <pose>-0.043785 -0.0141918 -0.026411 1.5707963268 1.57064733889 -1.57079632679</pose>
      <plugin name="iCub_yarp_gazebo_plugin_ACC" filename="libgazebo_yarp_inertial.so"/>
    </sensor>
  </gazebo>
  <sensor name="l_upper_leg_mtb_acc_10b7" type="accelerometer">
    <parent link="l_upper_leg"/>
    <origin rpy="1.5707963268 1.57064733889 -1.57079632679" xyz="-0.043785 -0.0141918 -0.026411"/>
  </sensor>
  <gazebo reference="l_lower_leg">
    <sensor name="l_lower_leg_ems_acc_eb7" type="imu">
      <always_on>1</always_on>
      <update_rate>100</update_rate>
      <pose>0.04351373 0.0113146 -0.092765 -3.14159265359 -1.35262978345 -8.47684971046e-16</pose>
      <plugin name="iCub_yarp_gazebo_plugin_ACC" filename="libgazebo_yarp_inertial.so"/>
    </sensor>
  </gazebo>
  <sensor name="l_lower_leg_ems_acc_eb7" type="accelerometer">
    <parent link="l_lower_leg"/>
    <origin rpy="-3.14159265359 -1.35262978345 -8.47684971046e-16" xyz="0.04351373 0.0113146 -0.092765"/>
  </sensor>
  <gazebo reference="l_lower_leg">
    <sensor name="l_lower_leg_ems_gyro_eb7" type="imu">
      <always_on>1</always_on>
      <update_rate>100</update_rate>
      <pose>0.044503292 0.0118185 -0.088301 -3.14159265359 -1.35262978345 -8.47684971046e-16</pose>
    </sensor>
  </gazebo>
  <sensor name="l_lower_leg_ems_gyro_eb7" type="gyroscope">
    <parent link="l_lower_leg"/>
    <origin rpy="-3.14159265359 -1.35262978345 -8.47684971046e-16" xyz="0.044503292 0.0118185 -0.088301"/>
  </sensor>
  <gazebo reference="l_lower_leg">
    <sensor name="l_lower_leg_mtb_acc_10b8" type="imu">
      <always_on>1</always_on>
      <update_rate>100</update_rate>
      <pose>0.05313347 0.0171841 -0.004318 -2.89724648752 -1.57079632679 0.0</pose>
      <plugin name="iCub_yarp_gazebo_plugin_ACC" filename="libgazebo_yarp_inertial.so"/>
    </sensor>
  </gazebo>
  <sensor name="l_lower_leg_mtb_acc_10b8" type="accelerometer">
    <parent link="l_lower_leg"/>
    <origin rpy="-2.89724648752 -1.57079632679 0.0" xyz="0.05313347 0.0171841 -0.004318"/>
  </sensor>
  <gazebo reference="l_lower_leg">
    <sensor name="l_lower_leg_mtb_acc_10b9" type="imu">
      <always_on>1</always_on>
      <update_rate>100</update_rate>
      <pose>0.0544518 -0.0137991 -0.004318 -1.57079636645 -1.57068021044 -1.91986192735</pose>
      <plugin name="iCub_yarp_gazebo_plugin_ACC" filename="libgazebo_yarp_inertial.so"/>
    </sensor>
  </gazebo>
  <sensor name="l_lower_leg_mtb_acc_10b9" type="accelerometer">
    <parent link="l_lower_leg"/>
    <origin rpy="-1.57079636645 -1.57068021044 -1.91986192735" xyz="0.0544518 -0.0137991 -0.004318"/>
  </sensor>
  <gazebo reference="l_lower_leg">
    <sensor name="l_lower_leg_mtb_acc_10b10" type="imu">
      <always_on>1</always_on>
      <update_rate>100</update_rate>
      <pose>0.0259151 0.042744 -0.043468 -1.57079369547 -1.57068021035 -0.261801810497</pose>
      <plugin name="iCub_yarp_gazebo_plugin_ACC" filename="libgazebo_yarp_inertial.so"/>
    </sensor>
  </gazebo>
  <sensor name="l_lower_leg_mtb_acc_10b10" type="accelerometer">
    <parent link="l_lower_leg"/>
    <origin rpy="-1.57079369547 -1.57068021035 -0.261801810497" xyz="0.0259151 0.042744 -0.043468"/>
  </sensor>
  <gazebo reference="l_lower_leg">
    <sensor name="l_lower_leg_mtb_acc_10b11" type="imu">
      <always_on>1</always_on>
      <update_rate>100</update_rate>
      <pose>0.0184593 -0.0417187 -0.092958 1.57079531928 -1.57076999786 0.261800187025</pose>
      <plugin name="iCub_yarp_gazebo_plugin_ACC" filename="libgazebo_yarp_inertial.so"/>
    </sensor>
  </gazebo>
  <sensor name="l_lower_leg_mtb_acc_10b11" type="accelerometer">
    <parent link="l_lower_leg"/>
    <origin rpy="1.57079531928 -1.57076999786 0.261800187025" xyz="0.0184593 -0.0417187 -0.092958"/>
  </sensor>
  <gazebo reference="l_foot">
    <sensor name="l_foot_mtb_acc_10b12" type="imu">
      <always_on>1</always_on>
      <update_rate>100</update_rate>
      <pose>0.1055274 0.0008122 -0.001215 0.0 -0.0 1.57079632679</pose>
      <plugin name="iCub_yarp_gazebo_plugin_ACC" filename="libgazebo_yarp_inertial.so"/>
    </sensor>
  </gazebo>
  <sensor name="l_foot_mtb_acc_10b12" type="accelerometer">
    <parent link="l_foot"/>
    <origin rpy="0.0 -0.0 1.57079632679" xyz="0.1055274 0.0008122 -0.001215"/>
  </sensor>
  <gazebo reference="l_foot">
    <sensor name="l_foot_mtb_acc_10b13" type="imu">
      <always_on>1</always_on>
      <update_rate>100</update_rate>
      <pose>0.0805274 0.0118122 -0.001215 0.0 -0.0 1.57079632679</pose>
      <plugin name="iCub_yarp_gazebo_plugin_ACC" filename="libgazebo_yarp_inertial.so"/>
    </sensor>
  </gazebo>
  <sensor name="l_foot_mtb_acc_10b13" type="accelerometer">
    <parent link="l_foot"/>
    <origin rpy="0.0 -0.0 1.57079632679" xyz="0.0805274 0.0118122 -0.001215"/>
  </sensor>
  <gazebo>
    <pose>0.0 0.0 0.63 0.0 0.0 3.14</pose>
  </gazebo>
</robot>
-->
<!-- Sensor  1-->
<sensor name="Pelvis_gyro" type="gyroscope">
<parent link="base_link"/>
<origin xyz="-0.055881  0.00020678    0.095148" rpy="0.094617      1.0086     -3.0304"/>
</sensor>
<sensor name="Pelvis_accelerometer" type="accelerometer">
<parent link="base_link"/>
<origin xyz="-0.055881  0.00020678    0.095148" rpy="0.094617      1.0086     -3.0304"/>
</sensor>
<!-- Sensor  2-->
<sensor name="T8_gyro" type="gyroscope">
<parent link="chest"/>
<origin xyz="0.14068  6.2838e-06    0.077433" rpy="-0.077161      1.1064    -0.17687"/>
</sensor>
<sensor name="T8_accelerometer" type="accelerometer">
<parent link="chest"/>
<origin xyz="0.14068  6.2838e-06    0.077433" rpy="-0.077161      1.1064    -0.17687"/>
</sensor>
<!-- Sensor  3-->
<sensor name="Head_gyro" type="gyroscope">
<parent link="head"/>
<origin xyz="-0.06975 -2.1628e-05    0.076683" rpy="2.3836  -0.0032688     -1.7942"/>
</sensor>
<sensor name="Head_accelerometer" type="accelerometer">
<parent link="head"/>
<origin xyz="-0.06975 -2.1628e-05    0.076683" rpy="2.3836  -0.0032688     -1.7942"/>
</sensor>
<!-- Sensor  4-->
<sensor name="RightShoulder_gyro" type="gyroscope">
<parent link="chest"/>
<origin xyz="-0.020002   -0.049977   -0.059953" rpy="1.0711    -0.16714    -0.95844"/>
</sensor>
<sensor name="RightShoulder_accelerometer" type="accelerometer">
<parent link="chest"/>
<origin xyz="-0.020002   -0.049977   -0.059953" rpy="1.0711    -0.16714    -0.95844"/>
</sensor>
<!-- Sensor  5-->
<sensor name="RightUpperArm_gyro" type="gyroscope">
<parent link="r_upper_arm"/>
<origin xyz="-0.020047   -0.099952    0.019983" rpy="-0.10514    0.025819     -1.5224"/>
</sensor>
<sensor name="RightUpperArm_accelerometer" type="accelerometer">
<parent link="r_upper_arm"/>
<origin xyz="-0.020047   -0.099952    0.019983" rpy="-0.10514    0.025819     -1.5224"/>
</sensor>
<!-- Sensor  6-->
<sensor name="RightForeArm_gyro" type="gyroscope">
<parent link="r_forearm"/>
<origin xyz="0.0018328    -0.20024    0.019978" rpy="-0.41688   -0.021387     -1.2563"/>
</sensor>
<sensor name="RightForeArm_accelerometer" type="accelerometer">
<parent link="r_forearm"/>
<origin xyz="0.0018328    -0.20024    0.019978" rpy="-0.41688   -0.021387     -1.2563"/>
</sensor>
<!-- Sensor  7-->
<sensor name="RightHand_gyro" type="gyroscope">
<parent link="r_hand"/>
<origin xyz="-7.5053e-06   -0.054958    0.020014" rpy="-0.37028    0.088894     -1.5331"/>
</sensor>
<sensor name="RightHand_accelerometer" type="accelerometer">
<parent link="r_hand"/>
<origin xyz="-7.5053e-06   -0.054958    0.020014" rpy="-0.37028    0.088894     -1.5331"/>
</sensor>
<!-- Sensor  8-->
<sensor name="LeftShoulder_gyro" type="gyroscope">
<parent link="chest"/>
<origin xyz="-0.019992    0.049973    -0.05994" rpy="-1.0318    -0.19235      1.1962"/>
</sensor>
<sensor name="LeftShoulder_accelerometer" type="accelerometer">
<parent link="chest"/>
<origin xyz="-0.019992    0.049973    -0.05994" rpy="-1.0318    -0.19235      1.1962"/>
</sensor>
<!-- Sensor  9-->
<sensor name="LeftUpperArm_gyro" type="gyroscope">
<parent link="l_upper_arm"/>
<origin xyz="-0.020025    0.099939    0.019989" rpy="0.064789   -0.084026      1.4526"/>
</sensor>
<sensor name="LeftUpperArm_accelerometer" type="accelerometer">
<parent link="l_upper_arm"/>
<origin xyz="-0.020025    0.099939    0.019989" rpy="0.064789   -0.084026      1.4526"/>
</sensor>
<!-- Sensor  10-->
<sensor name="LeftForeArm_gyro" type="gyroscope">
<parent link="l_forearm"/>
<origin xyz="0.0017837     0.20024    0.020006" rpy="0.72472      0.1279      1.0326"/>
</sensor>
<sensor name="LeftForeArm_accelerometer" type="accelerometer">
<parent link="l_forearm"/>
<origin xyz="0.0017837     0.20024    0.020006" rpy="0.72472      0.1279      1.0326"/>
</sensor>
<!-- Sensor  11-->
<sensor name="LeftHand_gyro" type="gyroscope">
<parent link="l_hand"/>
<origin xyz="-3.1578e-05    0.054994    0.019979" rpy="-0.88757   0.0059868      1.7618"/>
</sensor>
<sensor name="LeftHand_accelerometer" type="accelerometer">
<parent link="l_hand"/>
<origin xyz="-3.1578e-05    0.054994    0.019979" rpy="-0.88757   0.0059868      1.7618"/>
</sensor>
<!-- Sensor  12-->
<sensor name="RightUpperLeg_gyro" type="gyroscope">
<parent link="r_upper_leg"/>
<origin xyz="0.013338   -0.044248    -0.25239" rpy="-3.0702      1.3416      1.8771"/>
</sensor>
<sensor name="RightUpperLeg_accelerometer" type="accelerometer">
<parent link="r_upper_leg"/>
<origin xyz="0.013338   -0.044248    -0.25239" rpy="-3.0702      1.3416      1.8771"/>
</sensor>
<!-- Sensor  13-->
<sensor name="RightLowerLeg_gyro" type="gyroscope">
<parent link="r_lower_leg"/>
<origin xyz="0.031063   0.0066293    -0.13321" rpy="-3.0874      1.4644     -2.7215"/>
</sensor>
<sensor name="RightLowerLeg_accelerometer" type="accelerometer">
<parent link="r_lower_leg"/>
<origin xyz="0.031063   0.0066293    -0.13321" rpy="-3.0874      1.4644     -2.7215"/>
</sensor>
<!-- Sensor  14-->
<sensor name="RightFoot_gyro" type="gyroscope">
<parent link="r_foot"/>
<origin xyz="0.089471   0.0011861   -0.012554" rpy="-0.07906     0.83912    -0.38361"/>
</sensor>
<sensor name="RightFoot_accelerometer" type="accelerometer">
<parent link="r_foot"/>
<origin xyz="0.089471   0.0011861   -0.012554" rpy="-0.07906     0.83912    -0.38361"/>
</sensor>
<!-- Sensor  15-->
<sensor name="LeftUpperLeg_gyro" type="gyroscope">
<parent link="l_upper_leg"/>
<origin xyz="0.01207    0.043037    -0.25269" rpy="-3.11      1.3262    -0.93453"/>
</sensor>
<sensor name="LeftUpperLeg_accelerometer" type="accelerometer">
<parent link="l_upper_leg"/>
<origin xyz="0.01207    0.043037    -0.25269" rpy="-3.11      1.3262    -0.93453"/>
</sensor>
<!-- Sensor  16-->
<sensor name="LeftLowerLeg_gyro" type="gyroscope">
<parent link="l_lower_leg"/>
<origin xyz="0.030962  -0.0070902    -0.13319" rpy="-2.05      1.5347     -2.3088"/>
</sensor>
<sensor name="LeftLowerLeg_accelerometer" type="accelerometer">
<parent link="l_lower_leg"/>
<origin xyz="0.030962  -0.0070902    -0.13319" rpy="-2.05      1.5347     -2.3088"/>
</sensor>
<!-- Sensor  17-->
<sensor name="LeftFoot_gyro" type="gyroscope">
<parent link="l_foot"/>
<origin xyz="0.089484  -0.0013526   -0.012584" rpy="-0.35797     0.75899     0.20577"/>
</sensor>
<sensor name="LeftFoot_accelerometer" type="accelerometer">
<parent link="l_foot"/>
<origin xyz="0.089484  -0.0013526   -0.012584" rpy="-0.35797     0.75899     0.20577"/>
</sensor>


</robot>
